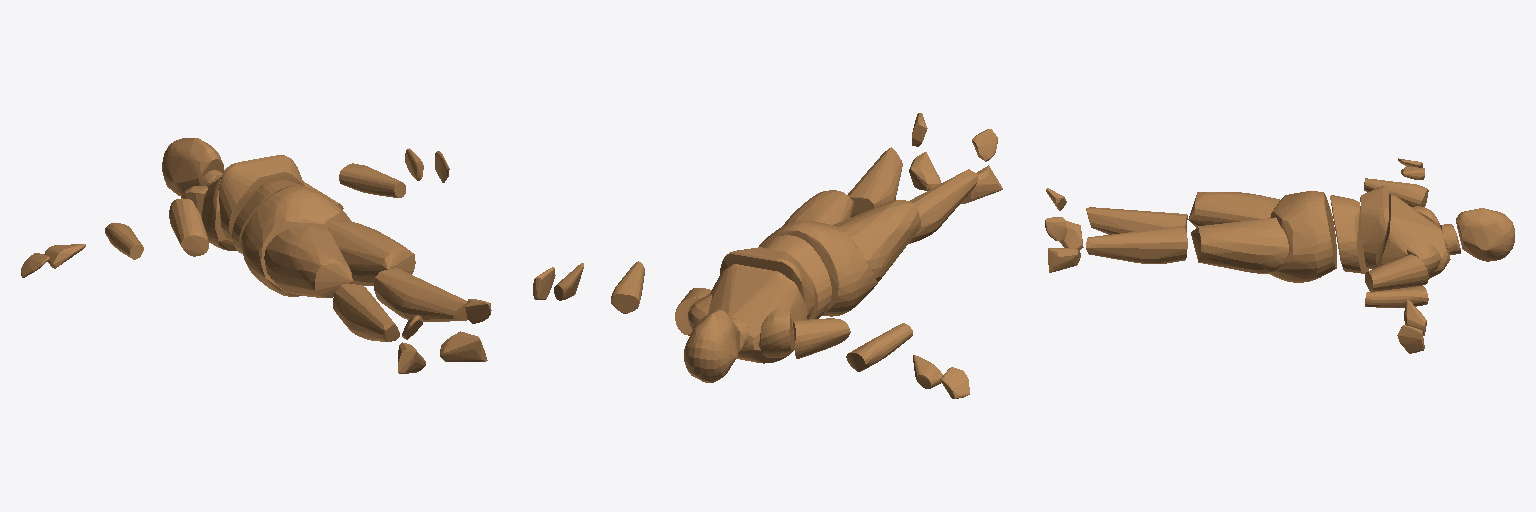
--- Render facts (derived) ---
The picture shows the robot from 3 angles, left to right: view 1: azimuth 30°, elevation 25°; view 2: azimuth 150°, elevation 25°; view 3: azimuth 270°, elevation 25°; orthographic projection.
Robot: human — 94 links, 93 joints (69 revolute, 24 fixed); root link base; default pose: every joint at zero.
Links seen in each view (by area): view 1: right_hip_limb, pelvis_limb, left_hip_limb, left_knee_limb, spine_3_limb, right_knee_limb, head_limb, right_shoulder_limb, left_elbow_limb, spine_4_limb, left_ankle_limb, spine_2_limb (+3 smaller); view 2: spine_4_limb, pelvis_limb, right_hip_limb, head_limb, right_knee_limb, left_knee_limb, spine_3_limb, spine_2_limb, right_shoulder_limb, left_hip_limb, right_elbow_limb, right_clavicle_limb (+8 smaller); view 3: pelvis_limb, left_hip_limb, left_knee_limb, spine_4_limb, head_limb, right_hip_limb, spine_2_limb, right_knee_limb, spine_3_limb, left_shoulder_limb, left_elbow_limb, right_elbow_limb (+3 smaller).
Boxes of the visible links, x1=… form: right_hip_limb: x1=264, y1=226, x2=352, y2=297; pelvis_limb: x1=241, y1=186, x2=350, y2=296; left_hip_limb: x1=327, y1=220, x2=415, y2=285; left_knee_limb: x1=374, y1=268, x2=467, y2=321; spine_3_limb: x1=218, y1=155, x2=304, y2=241; right_knee_limb: x1=333, y1=283, x2=399, y2=341; head_limb: x1=162, y1=138, x2=223, y2=195; right_shoulder_limb: x1=169, y1=198, x2=208, y2=256; left_elbow_limb: x1=339, y1=163, x2=405, y2=197; spine_4_limb: x1=202, y1=177, x2=236, y2=250; left_ankle_limb: x1=440, y1=331, x2=487, y2=361; spine_2_limb: x1=232, y1=179, x2=302, y2=253; spine_4_limb: x1=708, y1=264, x2=807, y2=363; pelvis_limb: x1=758, y1=221, x2=877, y2=316; right_hip_limb: x1=833, y1=200, x2=920, y2=281; head_limb: x1=684, y1=309, x2=737, y2=382; right_knee_limb: x1=909, y1=169, x2=977, y2=243; left_knee_limb: x1=847, y1=147, x2=902, y2=216; spine_3_limb: x1=720, y1=247, x2=814, y2=318; spine_2_limb: x1=760, y1=235, x2=831, y2=319; right_shoulder_limb: x1=793, y1=318, x2=850, y2=358; left_hip_limb: x1=782, y1=190, x2=853, y2=226; right_elbow_limb: x1=846, y1=323, x2=912, y2=371; right_clavicle_limb: x1=759, y1=307, x2=794, y2=357; pelvis_limb: x1=1270, y1=191, x2=1336, y2=282; left_hip_limb: x1=1191, y1=217, x2=1288, y2=273; left_knee_limb: x1=1086, y1=226, x2=1187, y2=263; spine_4_limb: x1=1380, y1=195, x2=1450, y2=278; head_limb: x1=1456, y1=208, x2=1514, y2=261; right_hip_limb: x1=1188, y1=192, x2=1279, y2=227; spine_2_limb: x1=1330, y1=195, x2=1368, y2=273; right_knee_limb: x1=1086, y1=207, x2=1187, y2=234; spine_3_limb: x1=1360, y1=186, x2=1388, y2=268; left_shoulder_limb: x1=1365, y1=254, x2=1428, y2=291; left_elbow_limb: x1=1365, y1=286, x2=1428, y2=307; right_elbow_limb: x1=1364, y1=178, x2=1428, y2=206.
Size in the robot's own frame: 1.68 by 1.84 by 0.3466 metres.
Meshes: 24 distinct files referenced, 24 mesh visuals loaded (24 OBJ).

URDF robot description (human):
<?xml version="1.0" ?>
<robot name="human">
	<link name="base">
		<inertial>
			<origin rpy="0.00000 0.0000 0.00000" xyz="0.00000 0.00000 0.00000"/>
			<mass value="0.00010"/>
			<inertia ixx="0.00000" ixy="0" ixz="0" iyy="0.00000" iyz="0" izz="0.00000"/>
		</inertial>
	</link>
	<link name="pelvis_limb">
		<inertial>
			<origin rpy="0.00000 0.0000 0.00000" xyz="0.00000 0.00000 0.00000"/>
			<mass value="2.00000"/>
			<inertia ixx="0.00000" ixy="0" ixz="0" iyy="0.00000" iyz="0" izz="0.00000"/>
		</inertial>
		<visual>
			<origin rpy="0.00000 0.0000 0.00000" xyz="0.00000 0.00000 0.00000"/>
			<geometry>
				<mesh filename="./meshes/Pelvis.obj" scale="1.00000 1.00000 1.00000"/>
			</geometry>
			<material name="mat_0_0">
				<color rgba="0.71879 0.53909 0.35939 1.00000" />
			</material>
		</visual>
		<collision>
			<origin rpy="0.00000 0.0000 0.00000" xyz="0.00000 0.00000 0.00000"/>
			<geometry>
				<mesh filename="./meshes/Pelvis.obj" scale="1.00000 1.00000 1.00000"/>
			</geometry>
		</collision>
	</link>
	<link name="left_hip_rx">
		<inertial>
			<origin rpy="0.00000 0.0000 0.00000" xyz="0.00000 0.00000 0.00000"/>
			<mass value="0.00000"/>
			<inertia ixx="0.00000" ixy="0" ixz="0" iyy="0.00000" iyz="0" izz="0.00000"/>
		</inertial>
		<visual>
			<origin rpy="0.00000 0.0000 0.00000" xyz="0.00000 0.00000 0.00000"/>
			<geometry>
				<sphere radius="0.00000"/>
			</geometry>
			<material name="mat_1_0">
				<color rgba="0.71879 0.53909 0.35939 1.00000" />
			</material>
		</visual>
		<collision>
			<origin rpy="0.00000 0.0000 0.00000" xyz="0.00000 0.00000 0.00000"/>
			<geometry>
				<sphere radius="0.00000"/>
			</geometry>
		</collision>
	</link>
	<link name="left_hip_ry">
		<inertial>
			<origin rpy="0.00000 0.0000 0.00000" xyz="0.00000 0.00000 0.00000"/>
			<mass value="0.00000"/>
			<inertia ixx="0.00000" ixy="0" ixz="0" iyy="0.00000" iyz="0" izz="0.00000"/>
		</inertial>
		<visual>
			<origin rpy="0.00000 0.0000 0.00000" xyz="0.00000 0.00000 0.00000"/>
			<geometry>
				<sphere radius="0.00000"/>
			</geometry>
			<material name="mat_2_0">
				<color rgba="0.71879 0.53909 0.35939 1.00000" />
			</material>
		</visual>
		<collision>
			<origin rpy="0.00000 0.0000 0.00000" xyz="0.00000 0.00000 0.00000"/>
			<geometry>
				<sphere radius="0.00000"/>
			</geometry>
		</collision>
	</link>
	<link name="left_hip_rz">
		<inertial>
			<origin rpy="0.00000 0.0000 0.00000" xyz="0.00000 0.00000 0.00000"/>
			<mass value="0.00000"/>
			<inertia ixx="0.00000" ixy="0" ixz="0" iyy="0.00000" iyz="0" izz="0.00000"/>
		</inertial>
		<visual>
			<origin rpy="0.00000 0.0000 0.00000" xyz="0.00000 0.00000 0.00000"/>
			<geometry>
				<sphere radius="0.00000"/>
			</geometry>
			<material name="mat_3_0">
				<color rgba="0.71879 0.53909 0.35939 1.00000" />
			</material>
		</visual>
		<collision>
			<origin rpy="0.00000 0.0000 0.00000" xyz="0.00000 0.00000 0.00000"/>
			<geometry>
				<sphere radius="0.00000"/>
			</geometry>
		</collision>
	</link>
	<link name="left_hip_limb">
		<inertial>
			<origin rpy="0.00000 0.0000 0.00000" xyz="0.00000 0.00000 0.00000"/>
			<mass value="2.00000"/>
			<inertia ixx="0.00000" ixy="0" ixz="0" iyy="0.00000" iyz="0" izz="0.00000"/>
		</inertial>
		<visual>
			<origin rpy="0.00000 0.0000 0.00000" xyz="0.00000 0.00000 0.00000"/>
			<geometry>
				<mesh filename="./meshes/L_Hip.obj" scale="1.00000 1.00000 1.00000"/>
			</geometry>
			<material name="mat_4_0">
				<color rgba="0.71879 0.53909 0.35939 1.00000" />
			</material>
		</visual>
		<collision>
			<origin rpy="0.00000 0.0000 0.00000" xyz="0.00000 0.00000 0.00000"/>
			<geometry>
				<mesh filename="./meshes/L_Hip.obj" scale="1.00000 1.00000 1.00000"/>
			</geometry>
		</collision>
	</link>
	<link name="left_knee_rx">
		<inertial>
			<origin rpy="0.00000 0.0000 0.00000" xyz="0.00000 0.00000 0.00000"/>
			<mass value="0.00000"/>
			<inertia ixx="0.00000" ixy="0" ixz="0" iyy="0.00000" iyz="0" izz="0.00000"/>
		</inertial>
		<visual>
			<origin rpy="0.00000 0.0000 0.00000" xyz="0.00000 0.00000 0.00000"/>
			<geometry>
				<sphere radius="0.00000"/>
			</geometry>
			<material name="mat_5_0">
				<color rgba="0.71879 0.53909 0.35939 1.00000" />
			</material>
		</visual>
		<collision>
			<origin rpy="0.00000 0.0000 0.00000" xyz="0.00000 0.00000 0.00000"/>
			<geometry>
				<sphere radius="0.00000"/>
			</geometry>
		</collision>
	</link>
	<link name="left_knee_ry">
		<inertial>
			<origin rpy="0.00000 0.0000 0.00000" xyz="0.00000 0.00000 0.00000"/>
			<mass value="0.00000"/>
			<inertia ixx="0.00000" ixy="0" ixz="0" iyy="0.00000" iyz="0" izz="0.00000"/>
		</inertial>
		<visual>
			<origin rpy="0.00000 0.0000 0.00000" xyz="0.00000 0.00000 0.00000"/>
			<geometry>
				<sphere radius="0.00000"/>
			</geometry>
			<material name="mat_6_0">
				<color rgba="0.71879 0.53909 0.35939 1.00000" />
			</material>
		</visual>
		<collision>
			<origin rpy="0.00000 0.0000 0.00000" xyz="0.00000 0.00000 0.00000"/>
			<geometry>
				<sphere radius="0.00000"/>
			</geometry>
		</collision>
	</link>
	<link name="left_knee_rz">
		<inertial>
			<origin rpy="0.00000 0.0000 0.00000" xyz="0.00000 0.00000 0.00000"/>
			<mass value="0.00000"/>
			<inertia ixx="0.00000" ixy="0" ixz="0" iyy="0.00000" iyz="0" izz="0.00000"/>
		</inertial>
		<visual>
			<origin rpy="0.00000 0.0000 0.00000" xyz="0.00000 0.00000 0.00000"/>
			<geometry>
				<sphere radius="0.00000"/>
			</geometry>
			<material name="mat_7_0">
				<color rgba="0.71879 0.53909 0.35939 1.00000" />
			</material>
		</visual>
		<collision>
			<origin rpy="0.00000 0.0000 0.00000" xyz="0.00000 0.00000 0.00000"/>
			<geometry>
				<sphere radius="0.00000"/>
			</geometry>
		</collision>
	</link>
	<link name="left_knee_limb">
		<inertial>
			<origin rpy="0.00000 0.0000 0.00000" xyz="0.00000 0.00000 0.00000"/>
			<mass value="2.00000"/>
			<inertia ixx="0.03487" ixy="0" ixz="0" iyy="0.00791" iyz="0" izz="0.03324"/>
		</inertial>
		<visual>
			<origin rpy="0.00000 0.0000 0.00000" xyz="0.00000 0.00000 0.00000"/>
			<geometry>
				<mesh filename="./meshes/L_Knee.obj" scale="1.00000 1.00000 1.00000"/>
			</geometry>
			<material name="mat_8_0">
				<color rgba="0.71879 0.53909 0.35939 1.00000" />
			</material>
		</visual>
		<collision>
			<origin rpy="0.00000 0.0000 0.00000" xyz="0.00000 0.00000 0.00000"/>
			<geometry>
				<mesh filename="./meshes/L_Knee.obj" scale="1.00000 1.00000 1.00000"/>
			</geometry>
		</collision>
	</link>
	<link name="left_ankle_rx">
		<inertial>
			<origin rpy="0.00000 0.0000 0.00000" xyz="0.00000 0.00000 0.00000"/>
			<mass value="0.00000"/>
			<inertia ixx="0.00000" ixy="0" ixz="0" iyy="0.00000" iyz="0" izz="0.00000"/>
		</inertial>
		<visual>
			<origin rpy="0.00000 0.0000 0.00000" xyz="0.00000 0.00000 0.00000"/>
			<geometry>
				<sphere radius="0.00000"/>
			</geometry>
			<material name="mat_9_0">
				<color rgba="0.71879 0.53909 0.35939 1.00000" />
			</material>
		</visual>
		<collision>
			<origin rpy="0.00000 0.0000 0.00000" xyz="0.00000 0.00000 0.00000"/>
			<geometry>
				<sphere radius="0.00000"/>
			</geometry>
		</collision>
	</link>
	<link name="left_ankle_ry">
		<inertial>
			<origin rpy="0.00000 0.0000 0.00000" xyz="0.00000 0.00000 0.00000"/>
			<mass value="0.00000"/>
			<inertia ixx="0.00000" ixy="0" ixz="0" iyy="0.00000" iyz="0" izz="0.00000"/>
		</inertial>
		<visual>
			<origin rpy="0.00000 0.0000 0.00000" xyz="0.00000 0.00000 0.00000"/>
			<geometry>
				<sphere radius="0.00000"/>
			</geometry>
			<material name="mat_10_0">
				<color rgba="0.71879 0.53909 0.35939 1.00000" />
			</material>
		</visual>
		<collision>
			<origin rpy="0.00000 0.0000 0.00000" xyz="0.00000 0.00000 0.00000"/>
			<geometry>
				<sphere radius="0.00000"/>
			</geometry>
		</collision>
	</link>
	<link name="left_ankle_rz">
		<inertial>
			<origin rpy="0.00000 0.0000 0.00000" xyz="0.00000 0.00000 0.00000"/>
			<mass value="0.00000"/>
			<inertia ixx="0.00000" ixy="0" ixz="0" iyy="0.00000" iyz="0" izz="0.00000"/>
		</inertial>
		<visual>
			<origin rpy="0.00000 0.0000 0.00000" xyz="0.00000 0.00000 0.00000"/>
			<geometry>
				<sphere radius="0.00000"/>
			</geometry>
			<material name="mat_11_0">
				<color rgba="0.71879 0.53909 0.35939 1.00000" />
			</material>
		</visual>
		<collision>
			<origin rpy="0.00000 0.0000 0.00000" xyz="0.00000 0.00000 0.00000"/>
			<geometry>
				<sphere radius="0.00000"/>
			</geometry>
		</collision>
	</link>
	<link name="left_ankle_limb">
		<inertial>
			<origin rpy="0.00000 0.0000 0.00000" xyz="0.00000 0.00000 0.00000"/>
			<mass value="2.00000"/>
			<inertia ixx="0.00736" ixy="0" ixz="0" iyy="0.00763" iyz="0" izz="0.00377"/>
		</inertial>
		<visual>
			<origin rpy="0.00000 0.0000 0.00000" xyz="0.00000 0.00000 0.00000"/>
			<geometry>
				<mesh filename="./meshes/L_Ankle.obj" scale="1.00000 1.00000 1.00000"/>
			</geometry>
			<material name="mat_12_0">
				<color rgba="0.71879 0.53909 0.35939 1.00000" />
			</material>
		</visual>
		<collision>
			<origin rpy="0.00000 0.0000 0.00000" xyz="0.00000 0.00000 0.00000"/>
			<geometry>
				<mesh filename="./meshes/L_Ankle.obj" scale="1.00000 1.00000 1.00000"/>
			</geometry>
		</collision>
	</link>
	<link name="left_foot_rx">
		<inertial>
			<origin rpy="0.00000 0.0000 0.00000" xyz="0.00000 0.00000 0.00000"/>
			<mass value="0.00000"/>
			<inertia ixx="0.00000" ixy="0" ixz="0" iyy="0.00000" iyz="0" izz="0.00000"/>
		</inertial>
		<visual>
			<origin rpy="0.00000 0.0000 0.00000" xyz="0.00000 0.00000 0.00000"/>
			<geometry>
				<sphere radius="0.00000"/>
			</geometry>
			<material name="mat_13_0">
				<color rgba="0.71879 0.53909 0.35939 1.00000" />
			</material>
		</visual>
		<collision>
			<origin rpy="0.00000 0.0000 0.00000" xyz="0.00000 0.00000 0.00000"/>
			<geometry>
				<sphere radius="0.00000"/>
			</geometry>
		</collision>
	</link>
	<link name="left_foot_ry">
		<inertial>
			<origin rpy="0.00000 0.0000 0.00000" xyz="0.00000 0.00000 0.00000"/>
			<mass value="0.00000"/>
			<inertia ixx="0.00000" ixy="0" ixz="0" iyy="0.00000" iyz="0" izz="0.00000"/>
		</inertial>
		<visual>
			<origin rpy="0.00000 0.0000 0.00000" xyz="0.00000 0.00000 0.00000"/>
			<geometry>
				<sphere radius="0.00000"/>
			</geometry>
			<material name="mat_14_0">
				<color rgba="0.71879 0.53909 0.35939 1.00000" />
			</material>
		</visual>
		<collision>
			<origin rpy="0.00000 0.0000 0.00000" xyz="0.00000 0.00000 0.00000"/>
			<geometry>
				<sphere radius="0.00000"/>
			</geometry>
		</collision>
	</link>
	<link name="left_foot_rz">
		<inertial>
			<origin rpy="0.00000 0.0000 0.00000" xyz="0.00000 0.00000 0.00000"/>
			<mass value="0.00000"/>
			<inertia ixx="0.00000" ixy="0" ixz="0" iyy="0.00000" iyz="0" izz="0.00000"/>
		</inertial>
		<visual>
			<origin rpy="0.00000 0.0000 0.00000" xyz="0.00000 0.00000 0.00000"/>
			<geometry>
				<sphere radius="0.00000"/>
			</geometry>
			<material name="mat_15_0">
				<color rgba="0.71879 0.53909 0.35939 1.00000" />
			</material>
		</visual>
		<collision>
			<origin rpy="0.00000 0.0000 0.00000" xyz="0.00000 0.00000 0.00000"/>
			<geometry>
				<sphere radius="0.00000"/>
			</geometry>
		</collision>
	</link>
	<link name="left_foot_limb">
		<inertial>
			<origin rpy="0.00000 0.0000 0.00000" xyz="0.00000 0.00000 0.00000"/>
			<mass value="2.00000"/>
			<inertia ixx="0.00118" ixy="0" ixz="0" iyy="0.00193" iyz="0" izz="0.00113"/>
		</inertial>
		<visual>
			<origin rpy="0.00000 0.0000 0.00000" xyz="0.00000 0.00000 0.00000"/>
			<geometry>
				<mesh filename="./meshes/L_Foot.obj" scale="1.00000 1.00000 1.00000"/>
			</geometry>
			<material name="mat_16_0">
				<color rgba="0.71879 0.53909 0.35939 1.00000" />
			</material>
		</visual>
		<collision>
			<origin rpy="0.00000 0.0000 0.00000" xyz="0.00000 0.00000 0.00000"/>
			<geometry>
				<mesh filename="./meshes/L_Foot.obj" scale="1.00000 1.00000 1.00000"/>
			</geometry>
		</collision>
	</link>
	<link name="right_hip_rx">
		<inertial>
			<origin rpy="0.00000 0.0000 0.00000" xyz="0.00000 0.00000 0.00000"/>
			<mass value="0.00000"/>
			<inertia ixx="0.00000" ixy="0" ixz="0" iyy="0.00000" iyz="0" izz="0.00000"/>
		</inertial>
		<visual>
			<origin rpy="0.00000 0.0000 0.00000" xyz="0.00000 0.00000 0.00000"/>
			<geometry>
				<sphere radius="0.00000"/>
			</geometry>
			<material name="mat_19_0">
				<color rgba="0.71879 0.53909 0.35939 1.00000" />
			</material>
		</visual>
		<collision>
			<origin rpy="0.00000 0.0000 0.00000" xyz="0.00000 0.00000 0.00000"/>
			<geometry>
				<sphere radius="0.00000"/>
			</geometry>
		</collision>
	</link>
	<link name="right_hip_ry">
		<inertial>
			<origin rpy="0.00000 0.0000 0.00000" xyz="0.00000 0.00000 0.00000"/>
			<mass value="0.00000"/>
			<inertia ixx="0.00000" ixy="0" ixz="0" iyy="0.00000" iyz="0" izz="0.00000"/>
		</inertial>
		<visual>
			<origin rpy="0.00000 0.0000 0.00000" xyz="0.00000 0.00000 0.00000"/>
			<geometry>
				<sphere radius="0.00000"/>
			</geometry>
			<material name="mat_20_0">
				<color rgba="0.71879 0.53909 0.35939 1.00000" />
			</material>
		</visual>
		<collision>
			<origin rpy="0.00000 0.0000 0.00000" xyz="0.00000 0.00000 0.00000"/>
			<geometry>
				<sphere radius="0.00000"/>
			</geometry>
		</collision>
	</link>
	<link name="right_hip_rz">
		<inertial>
			<origin rpy="0.00000 0.0000 0.00000" xyz="0.00000 0.00000 0.00000"/>
			<mass value="0.00000"/>
			<inertia ixx="0.00000" ixy="0" ixz="0" iyy="0.00000" iyz="0" izz="0.00000"/>
		</inertial>
		<visual>
			<origin rpy="0.00000 0.0000 0.00000" xyz="0.00000 0.00000 0.00000"/>
			<geometry>
				<sphere radius="0.00000"/>
			</geometry>
			<material name="mat_21_0">
				<color rgba="0.71879 0.53909 0.35939 1.00000" />
			</material>
		</visual>
		<collision>
			<origin rpy="0.00000 0.0000 0.00000" xyz="0.00000 0.00000 0.00000"/>
			<geometry>
				<sphere radius="0.00000"/>
			</geometry>
		</collision>
	</link>
	<link name="right_hip_limb">
		<inertial>
			<origin rpy="0.00000 0.0000 0.00000" xyz="0.00000 0.00000 0.00000"/>
			<mass value="2.00000"/>
			<inertia ixx="0.00000" ixy="0" ixz="0" iyy="0.00000" iyz="0" izz="0.00000"/>
		</inertial>
		<visual>
			<origin rpy="0.00000 0.0000 0.00000" xyz="0.00000 0.00000 0.00000"/>
			<geometry>
				<mesh filename="./meshes/R_Hip.obj" scale="1.00000 1.00000 1.00000"/>
			</geometry>
			<material name="mat_22_0">
				<color rgba="0.71879 0.53909 0.35939 1.00000" />
			</material>
		</visual>
		<collision>
			<origin rpy="0.00000 0.0000 0.00000" xyz="0.00000 0.00000 0.00000"/>
			<geometry>
				<mesh filename="./meshes/R_Hip.obj" scale="1.00000 1.00000 1.00000"/>
			</geometry>
		</collision>
	</link>
	<link name="right_knee_rx">
		<inertial>
			<origin rpy="0.00000 0.0000 0.00000" xyz="0.00000 0.00000 0.00000"/>
			<mass value="0.00000"/>
			<inertia ixx="0.00000" ixy="0" ixz="0" iyy="0.00000" iyz="0" izz="0.00000"/>
		</inertial>
		<visual>
			<origin rpy="0.00000 0.0000 0.00000" xyz="0.00000 0.00000 0.00000"/>
			<geometry>
				<sphere radius="0.00000"/>
			</geometry>
			<material name="mat_23_0">
				<color rgba="0.71879 0.53909 0.35939 1.00000" />
			</material>
		</visual>
		<collision>
			<origin rpy="0.00000 0.0000 0.00000" xyz="0.00000 0.00000 0.00000"/>
			<geometry>
				<sphere radius="0.00000"/>
			</geometry>
		</collision>
	</link>
	<link name="right_knee_ry">
		<inertial>
			<origin rpy="0.00000 0.0000 0.00000" xyz="0.00000 0.00000 0.00000"/>
			<mass value="0.00000"/>
			<inertia ixx="0.00000" ixy="0" ixz="0" iyy="0.00000" iyz="0" izz="0.00000"/>
		</inertial>
		<visual>
			<origin rpy="0.00000 0.0000 0.00000" xyz="0.00000 0.00000 0.00000"/>
			<geometry>
				<sphere radius="0.00000"/>
			</geometry>
			<material name="mat_24_0">
				<color rgba="0.71879 0.53909 0.35939 1.00000" />
			</material>
		</visual>
		<collision>
			<origin rpy="0.00000 0.0000 0.00000" xyz="0.00000 0.00000 0.00000"/>
			<geometry>
				<sphere radius="0.00000"/>
			</geometry>
		</collision>
	</link>
	<link name="right_knee_rz">
		<inertial>
			<origin rpy="0.00000 0.0000 0.00000" xyz="0.00000 0.00000 0.00000"/>
			<mass value="0.00000"/>
			<inertia ixx="0.00000" ixy="0" ixz="0" iyy="0.00000" iyz="0" izz="0.00000"/>
		</inertial>
		<visual>
			<origin rpy="0.00000 0.0000 0.00000" xyz="0.00000 0.00000 0.00000"/>
			<geometry>
				<sphere radius="0.00000"/>
			</geometry>
			<material name="mat_25_0">
				<color rgba="0.71879 0.53909 0.35939 1.00000" />
			</material>
		</visual>
		<collision>
			<origin rpy="0.00000 0.0000 0.00000" xyz="0.00000 0.00000 0.00000"/>
			<geometry>
				<sphere radius="0.00000"/>
			</geometry>
		</collision>
	</link>
	<link name="right_knee_limb">
		<inertial>
			<origin rpy="0.00000 0.0000 0.00000" xyz="0.00000 0.00000 0.00000"/>
			<mass value="2.00000"/>
			<inertia ixx="0.03468" ixy="0" ixz="0" iyy="0.00776" iyz="0" izz="0.03330"/>
		</inertial>
		<visual>
			<origin rpy="0.00000 0.0000 0.00000" xyz="0.00000 0.00000 0.00000"/>
			<geometry>
				<mesh filename="./meshes/R_Knee.obj" scale="1.00000 1.00000 1.00000"/>
			</geometry>
			<material name="mat_26_0">
				<color rgba="0.71879 0.53909 0.35939 1.00000" />
			</material>
		</visual>
		<collision>
			<origin rpy="0.00000 0.0000 0.00000" xyz="0.00000 0.00000 0.00000"/>
			<geometry>
				<mesh filename="./meshes/R_Knee.obj" scale="1.00000 1.00000 1.00000"/>
			</geometry>
		</collision>
	</link>
	<link name="right_ankle_rx">
		<inertial>
			<origin rpy="0.00000 0.0000 0.00000" xyz="0.00000 0.00000 0.00000"/>
			<mass value="0.00000"/>
			<inertia ixx="0.00000" ixy="0" ixz="0" iyy="0.00000" iyz="0" izz="0.00000"/>
		</inertial>
		<visual>
			<origin rpy="0.00000 0.0000 0.00000" xyz="0.00000 0.00000 0.00000"/>
			<geometry>
				<sphere radius="0.00000"/>
			</geometry>
			<material name="mat_27_0">
				<color rgba="0.71879 0.53909 0.35939 1.00000" />
			</material>
		</visual>
		<collision>
			<origin rpy="0.00000 0.0000 0.00000" xyz="0.00000 0.00000 0.00000"/>
			<geometry>
				<sphere radius="0.00000"/>
			</geometry>
		</collision>
	</link>
	<link name="right_ankle_ry">
		<inertial>
			<origin rpy="0.00000 0.0000 0.00000" xyz="0.00000 0.00000 0.00000"/>
			<mass value="0.00000"/>
			<inertia ixx="0.00000" ixy="0" ixz="0" iyy="0.00000" iyz="0" izz="0.00000"/>
		</inertial>
		<visual>
			<origin rpy="0.00000 0.0000 0.00000" xyz="0.00000 0.00000 0.00000"/>
			<geometry>
				<sphere radius="0.00000"/>
			</geometry>
			<material name="mat_28_0">
				<color rgba="0.71879 0.53909 0.35939 1.00000" />
			</material>
		</visual>
		<collision>
			<origin rpy="0.00000 0.0000 0.00000" xyz="0.00000 0.00000 0.00000"/>
			<geometry>
				<sphere radius="0.00000"/>
			</geometry>
		</collision>
	</link>
	<link name="right_ankle_rz">
		<inertial>
			<origin rpy="0.00000 0.0000 0.00000" xyz="0.00000 0.00000 0.00000"/>
			<mass value="0.00000"/>
			<inertia ixx="0.00000" ixy="0" ixz="0" iyy="0.00000" iyz="0" izz="0.00000"/>
		</inertial>
		<visual>
			<origin rpy="0.00000 0.0000 0.00000" xyz="0.00000 0.00000 0.00000"/>
			<geometry>
				<sphere radius="0.00000"/>
			</geometry>
			<material name="mat_29_0">
				<color rgba="0.71879 0.53909 0.35939 1.00000" />
			</material>
		</visual>
		<collision>
			<origin rpy="0.00000 0.0000 0.00000" xyz="0.00000 0.00000 0.00000"/>
			<geometry>
				<sphere radius="0.00000"/>
			</geometry>
		</collision>
	</link>
	<link name="right_ankle_limb">
		<inertial>
			<origin rpy="0.00000 0.0000 0.00000" xyz="0.00000 0.00000 0.00000"/>
			<mass value="2.00000"/>
			<inertia ixx="0.00777" ixy="0" ixz="0" iyy="0.00782" iyz="0" izz="0.00385"/>
		</inertial>
		<visual>
			<origin rpy="0.00000 0.0000 0.00000" xyz="0.00000 0.00000 0.00000"/>
			<geometry>
				<mesh filename="./meshes/R_Ankle.obj" scale="1.00000 1.00000 1.00000"/>
			</geometry>
			<material name="mat_30_0">
				<color rgba="0.71879 0.53909 0.35939 1.00000" />
			</material>
		</visual>
		<collision>
			<origin rpy="0.00000 0.0000 0.00000" xyz="0.00000 0.00000 0.00000"/>
			<geometry>
				<mesh filename="./meshes/R_Ankle.obj" scale="1.00000 1.00000 1.00000"/>
			</geometry>
		</collision>
	</link>
	<link name="right_foot_rx">
		<inertial>
			<origin rpy="0.00000 0.0000 0.00000" xyz="0.00000 0.00000 0.00000"/>
			<mass value="0.00000"/>
			<inertia ixx="0.00000" ixy="0" ixz="0" iyy="0.00000" iyz="0" izz="0.00000"/>
		</inertial>
		<visual>
			<origin rpy="0.00000 0.0000 0.00000" xyz="0.00000 0.00000 0.00000"/>
			<geometry>
				<sphere radius="0.00000"/>
			</geometry>
			<material name="mat_31_0">
				<color rgba="0.71879 0.53909 0.35939 1.00000" />
			</material>
		</visual>
		<collision>
			<origin rpy="0.00000 0.0000 0.00000" xyz="0.00000 0.00000 0.00000"/>
			<geometry>
				<sphere radius="0.00000"/>
			</geometry>
		</collision>
	</link>
	<link name="right_foot_ry">
		<inertial>
			<origin rpy="0.00000 0.0000 0.00000" xyz="0.00000 0.00000 0.00000"/>
			<mass value="0.00000"/>
			<inertia ixx="0.00000" ixy="0" ixz="0" iyy="0.00000" iyz="0" izz="0.00000"/>
		</inertial>
		<visual>
			<origin rpy="0.00000 0.0000 0.00000" xyz="0.00000 0.00000 0.00000"/>
			<geometry>
				<sphere radius="0.00000"/>
			</geometry>
			<material name="mat_32_0">
				<color rgba="0.71879 0.53909 0.35939 1.00000" />
			</material>
		</visual>
		<collision>
			<origin rpy="0.00000 0.0000 0.00000" xyz="0.00000 0.00000 0.00000"/>
			<geometry>
				<sphere radius="0.00000"/>
			</geometry>
		</collision>
	</link>
	<link name="right_foot_rz">
		<inertial>
			<origin rpy="0.00000 0.0000 0.00000" xyz="0.00000 0.00000 0.00000"/>
			<mass value="0.00000"/>
			<inertia ixx="0.00000" ixy="0" ixz="0" iyy="0.00000" iyz="0" izz="0.00000"/>
		</inertial>
		<visual>
			<origin rpy="0.00000 0.0000 0.00000" xyz="0.00000 0.00000 0.00000"/>
			<geometry>
				<sphere radius="0.00000"/>
			</geometry>
			<material name="mat_33_0">
				<color rgba="0.71879 0.53909 0.35939 1.00000" />
			</material>
		</visual>
		<collision>
			<origin rpy="0.00000 0.0000 0.00000" xyz="0.00000 0.00000 0.00000"/>
			<geometry>
				<sphere radius="0.00000"/>
			</geometry>
		</collision>
	</link>
	<link name="right_foot_limb">
		<inertial>
			<origin rpy="0.00000 0.0000 0.00000" xyz="0.00000 0.00000 0.00000"/>
			<mass value="2.00000"/>
			<inertia ixx="0.00122" ixy="0" ixz="0" iyy="0.00197" iyz="0" izz="0.00116"/>
		</inertial>
		<visual>
			<origin rpy="0.00000 0.0000 0.00000" xyz="0.00000 0.00000 0.00000"/>
			<geometry>
				<mesh filename="./meshes/R_Foot.obj" scale="1.00000 1.00000 1.00000"/>
			</geometry>
			<material name="mat_34_0">
				<color rgba="0.71879 0.53909 0.35939 1.00000" />
			</material>
		</visual>
		<collision>
			<origin rpy="0.00000 0.0000 0.00000" xyz="0.00000 0.00000 0.00000"/>
			<geometry>
				<mesh filename="./meshes/R_Foot.obj" scale="1.00000 1.00000 1.00000"/>
			</geometry>
		</collision>
	</link>
	<link name="spine_2_rx">
		<inertial>
			<origin rpy="0.00000 0.0000 0.00000" xyz="0.00000 0.00000 0.00000"/>
			<mass value="0.00000"/>
			<inertia ixx="0.00000" ixy="0" ixz="0" iyy="0.00000" iyz="0" izz="0.00000"/>
		</inertial>
		<visual>
			<origin rpy="0.00000 0.0000 0.00000" xyz="0.00000 0.00000 0.00000"/>
			<geometry>
				<sphere radius="0.00000"/>
			</geometry>
			<material name="mat_37_0">
				<color rgba="0.71879 0.53909 0.35939 1.00000" />
			</material>
		</visual>
		<collision>
			<origin rpy="0.00000 0.0000 0.00000" xyz="0.00000 0.00000 0.00000"/>
			<geometry>
				<sphere radius="0.00000"/>
			</geometry>
		</collision>
	</link>
	<link name="spine_2_ry">
		<inertial>
			<origin rpy="0.00000 0.0000 0.00000" xyz="0.00000 0.00000 0.00000"/>
			<mass value="0.00000"/>
			<inertia ixx="0.00000" ixy="0" ixz="0" iyy="0.00000" iyz="0" izz="0.00000"/>
		</inertial>
		<visual>
			<origin rpy="0.00000 0.0000 0.00000" xyz="0.00000 0.00000 0.00000"/>
			<geometry>
				<sphere radius="0.00000"/>
			</geometry>
			<material name="mat_38_0">
				<color rgba="0.71879 0.53909 0.35939 1.00000" />
			</material>
		</visual>
		<collision>
			<origin rpy="0.00000 0.0000 0.00000" xyz="0.00000 0.00000 0.00000"/>
			<geometry>
				<sphere radius="0.00000"/>
			</geometry>
		</collision>
	</link>
	<link name="spine_2_rz">
		<inertial>
			<origin rpy="0.00000 0.0000 0.00000" xyz="0.00000 0.00000 0.00000"/>
			<mass value="0.00000"/>
			<inertia ixx="0.00000" ixy="0" ixz="0" iyy="0.00000" iyz="0" izz="0.00000"/>
		</inertial>
		<visual>
			<origin rpy="0.00000 0.0000 0.00000" xyz="0.00000 0.00000 0.00000"/>
			<geometry>
				<sphere radius="0.00000"/>
			</geometry>
			<material name="mat_39_0">
				<color rgba="0.71879 0.53909 0.35939 1.00000" />
			</material>
		</visual>
		<collision>
			<origin rpy="0.00000 0.0000 0.00000" xyz="0.00000 0.00000 0.00000"/>
			<geometry>
				<sphere radius="0.00000"/>
			</geometry>
		</collision>
	</link>
	<link name="spine_2_limb">
		<inertial>
			<origin rpy="0.00000 0.0000 0.00000" xyz="0.00000 0.00000 0.00000"/>
			<mass value="2.00000"/>
			<inertia ixx="0.01821" ixy="0" ixz="0" iyy="0.03264" iyz="0" izz="0.02330"/>
		</inertial>
		<visual>
			<origin rpy="0.00000 0.0000 0.00000" xyz="0.00000 0.00000 0.00000"/>
			<geometry>
				<mesh filename="./meshes/Spine1.obj" scale="1.00000 1.00000 1.00000"/>
			</geometry>
			<material name="mat_40_0">
				<color rgba="0.71879 0.53909 0.35939 1.00000" />
			</material>
		</visual>
		<collision>
			<origin rpy="0.00000 0.0000 0.00000" xyz="0.00000 0.00000 0.00000"/>
			<geometry>
				<mesh filename="./meshes/Spine1.obj" scale="1.00000 1.00000 1.00000"/>
			</geometry>
		</collision>
	</link>
	<link name="spine_3_rx">
		<inertial>
			<origin rpy="0.00000 0.0000 0.00000" xyz="0.00000 0.00000 0.00000"/>
			<mass value="0.00000"/>
			<inertia ixx="0.00000" ixy="0" ixz="0" iyy="0.00000" iyz="0" izz="0.00000"/>
		</inertial>
		<visual>
			<origin rpy="0.00000 0.0000 0.00000" xyz="0.00000 0.00000 0.00000"/>
			<geometry>
				<sphere radius="0.00000"/>
			</geometry>
			<material name="mat_41_0">
				<color rgba="0.71879 0.53909 0.35939 1.00000" />
			</material>
		</visual>
		<collision>
			<origin rpy="0.00000 0.0000 0.00000" xyz="0.00000 0.00000 0.00000"/>
			<geometry>
				<sphere radius="0.00000"/>
			</geometry>
		</collision>
	</link>
	<link name="spine_3_ry">
		<inertial>
			<origin rpy="0.00000 0.0000 0.00000" xyz="0.00000 0.00000 0.00000"/>
			<mass value="0.00000"/>
			<inertia ixx="0.00000" ixy="0" ixz="0" iyy="0.00000" iyz="0" izz="0.00000"/>
		</inertial>
		<visual>
			<origin rpy="0.00000 0.0000 0.00000" xyz="0.00000 0.00000 0.00000"/>
			<geometry>
				<sphere radius="0.00000"/>
			</geometry>
			<material name="mat_42_0">
				<color rgba="0.71879 0.53909 0.35939 1.00000" />
			</material>
		</visual>
		<collision>
			<origin rpy="0.00000 0.0000 0.00000" xyz="0.00000 0.00000 0.00000"/>
			<geometry>
				<sphere radius="0.00000"/>
			</geometry>
		</collision>
	</link>
	<link name="spine_3_rz">
		<inertial>
			<origin rpy="0.00000 0.0000 0.00000" xyz="0.00000 0.00000 0.00000"/>
			<mass value="0.00000"/>
			<inertia ixx="0.00000" ixy="0" ixz="0" iyy="0.00000" iyz="0" izz="0.00000"/>
		</inertial>
		<visual>
			<origin rpy="0.00000 0.0000 0.00000" xyz="0.00000 0.00000 0.00000"/>
			<geometry>
				<sphere radius="0.00000"/>
			</geometry>
			<material name="mat_43_0">
				<color rgba="0.71879 0.53909 0.35939 1.00000" />
			</material>
		</visual>
		<collision>
			<origin rpy="0.00000 0.0000 0.00000" xyz="0.00000 0.00000 0.00000"/>
			<geometry>
				<sphere radius="0.00000"/>
			</geometry>
		</collision>
	</link>
	<link name="spine_3_limb">
		<inertial>
			<origin rpy="0.00000 0.0000 0.00000" xyz="0.00000 0.00000 0.00000"/>
			<mass value="2.00000"/>
			<inertia ixx="0.01582" ixy="0" ixz="0" iyy="0.03312" iyz="0" izz="0.02315"/>
		</inertial>
		<visual>
			<origin rpy="0.00000 0.0000 0.00000" xyz="0.00000 0.00000 0.00000"/>
			<geometry>
				<mesh filename="./meshes/Spine2.obj" scale="1.00000 1.00000 1.00000"/>
			</geometry>
			<material name="mat_44_0">
				<color rgba="0.71879 0.53909 0.35939 1.00000" />
			</material>
		</visual>
		<collision>
			<origin rpy="0.00000 0.0000 0.00000" xyz="0.00000 0.00000 0.00000"/>
			<geometry>
				<mesh filename="./meshes/Spine2.obj" scale="1.00000 1.00000 1.00000"/>
			</geometry>
		</collision>
	</link>
	<link name="spine_4_rx">
		<inertial>
			<origin rpy="0.00000 0.0000 0.00000" xyz="0.00000 0.00000 0.00000"/>
			<mass value="0.00000"/>
			<inertia ixx="0.00000" ixy="0" ixz="0" iyy="0.00000" iyz="0" izz="0.00000"/>
		</inertial>
		<visual>
			<origin rpy="0.00000 0.0000 0.00000" xyz="0.00000 0.00000 0.00000"/>
			<geometry>
				<sphere radius="0.00000"/>
			</geometry>
			<material name="mat_45_0">
				<color rgba="0.71879 0.53909 0.35939 1.00000" />
			</material>
		</visual>
		<collision>
			<origin rpy="0.00000 0.0000 0.00000" xyz="0.00000 0.00000 0.00000"/>
			<geometry>
				<sphere radius="0.00000"/>
			</geometry>
		</collision>
	</link>
	<link name="spine_4_ry">
		<inertial>
			<origin rpy="0.00000 0.0000 0.00000" xyz="0.00000 0.00000 0.00000"/>
			<mass value="0.00000"/>
			<inertia ixx="0.00000" ixy="0" ixz="0" iyy="0.00000" iyz="0" izz="0.00000"/>
		</inertial>
		<visual>
			<origin rpy="0.00000 0.0000 0.00000" xyz="0.00000 0.00000 0.00000"/>
			<geometry>
				<sphere radius="0.00000"/>
			</geometry>
			<material name="mat_46_0">
				<color rgba="0.71879 0.53909 0.35939 1.00000" />
			</material>
		</visual>
		<collision>
			<origin rpy="0.00000 0.0000 0.00000" xyz="0.00000 0.00000 0.00000"/>
			<geometry>
				<sphere radius="0.00000"/>
			</geometry>
		</collision>
	</link>
	<link name="spine_4_rz">
		<inertial>
			<origin rpy="0.00000 0.0000 0.00000" xyz="0.00000 0.00000 0.00000"/>
			<mass value="0.00000"/>
			<inertia ixx="0.00000" ixy="0" ixz="0" iyy="0.00000" iyz="0" izz="0.00000"/>
		</inertial>
		<visual>
			<origin rpy="0.00000 0.0000 0.00000" xyz="0.00000 0.00000 0.00000"/>
			<geometry>
				<sphere radius="0.00000"/>
			</geometry>
			<material name="mat_47_0">
				<color rgba="0.71879 0.53909 0.35939 1.00000" />
			</material>
		</visual>
		<collision>
			<origin rpy="0.00000 0.0000 0.00000" xyz="0.00000 0.00000 0.00000"/>
			<geometry>
				<sphere radius="0.00000"/>
			</geometry>
		</collision>
	</link>
	<link name="spine_4_limb">
		<inertial>
			<origin rpy="0.00000 0.0000 0.00000" xyz="0.00000 0.00000 0.00000"/>
			<mass value="2.00000"/>
			<inertia ixx="0.02460" ixy="0" ixz="0" iyy="0.04485" iyz="0" izz="0.04578"/>
		</inertial>
		<visual>
			<origin rpy="0.00000 0.0000 0.00000" xyz="0.00000 0.00000 0.00000"/>
			<geometry>
				<mesh filename="./meshes/Spine3.obj" scale="1.00000 1.00000 1.00000"/>
			</geometry>
			<material name="mat_48_0">
				<color rgba="0.71879 0.53909 0.35939 1.00000" />
			</material>
		</visual>
		<collision>
			<origin rpy="0.00000 0.0000 0.00000" xyz="0.00000 0.00000 0.00000"/>
			<geometry>
				<mesh filename="./meshes/Spine3.obj" scale="1.00000 1.00000 1.00000"/>
			</geometry>
		</collision>
	</link>
	<link name="neck_rx">
		<inertial>
			<origin rpy="0.00000 0.0000 0.00000" xyz="0.00000 0.00000 0.00000"/>
			<mass value="0.00000"/>
			<inertia ixx="0.00000" ixy="0" ixz="0" iyy="0.00000" iyz="0" izz="0.00000"/>
		</inertial>
		<visual>
			<origin rpy="0.00000 0.0000 0.00000" xyz="0.00000 0.00000 0.00000"/>
			<geometry>
				<sphere radius="0.00000"/>
			</geometry>
			<material name="mat_49_0">
				<color rgba="0.71879 0.53909 0.35939 1.00000" />
			</material>
		</visual>
		<collision>
			<origin rpy="0.00000 0.0000 0.00000" xyz="0.00000 0.00000 0.00000"/>
			<geometry>
				<sphere radius="0.00000"/>
			</geometry>
		</collision>
	</link>
	<link name="neck_ry">
		<inertial>
			<origin rpy="0.00000 0.0000 0.00000" xyz="0.00000 0.00000 0.00000"/>
			<mass value="0.00000"/>
			<inertia ixx="0.00000" ixy="0" ixz="0" iyy="0.00000" iyz="0" izz="0.00000"/>
		</inertial>
		<visual>
			<origin rpy="0.00000 0.0000 0.00000" xyz="0.00000 0.00000 0.00000"/>
			<geometry>
				<sphere radius="0.00000"/>
			</geometry>
			<material name="mat_50_0">
				<color rgba="0.71879 0.53909 0.35939 1.00000" />
			</material>
		</visual>
		<collision>
			<origin rpy="0.00000 0.0000 0.00000" xyz="0.00000 0.00000 0.00000"/>
			<geometry>
				<sphere radius="0.00000"/>
			</geometry>
		</collision>
	</link>
	<link name="neck_rz">
		<inertial>
			<origin rpy="0.00000 0.0000 0.00000" xyz="0.00000 0.00000 0.00000"/>
			<mass value="0.00000"/>
			<inertia ixx="0.00000" ixy="0" ixz="0" iyy="0.00000" iyz="0" izz="0.00000"/>
		</inertial>
		<visual>
			<origin rpy="0.00000 0.0000 0.00000" xyz="0.00000 0.00000 0.00000"/>
			<geometry>
				<sphere radius="0.00000"/>
			</geometry>
			<material name="mat_51_0">
				<color rgba="0.71879 0.53909 0.35939 1.00000" />
			</material>
		</visual>
		<collision>
			<origin rpy="0.00000 0.0000 0.00000" xyz="0.00000 0.00000 0.00000"/>
			<geometry>
				<sphere radius="0.00000"/>
			</geometry>
		</collision>
	</link>
	<link name="neck_limb">
		<inertial>
			<origin rpy="0.00000 0.0000 0.00000" xyz="0.00000 0.00000 0.00000"/>
			<mass value="2.00000"/>
			<inertia ixx="0.00260" ixy="0" ixz="0" iyy="0.00362" iyz="0" izz="0.00230"/>
		</inertial>
		<visual>
			<origin rpy="0.00000 0.0000 0.00000" xyz="0.00000 0.00000 0.00000"/>
			<geometry>
				<mesh filename="./meshes/Neck.obj" scale="1.00000 1.00000 1.00000"/>
			</geometry>
			<material name="mat_52_0">
				<color rgba="0.71879 0.53909 0.35939 1.00000" />
			</material>
		</visual>
		<collision>
			<origin rpy="0.00000 0.0000 0.00000" xyz="0.00000 0.00000 0.00000"/>
			<geometry>
				<mesh filename="./meshes/Neck.obj" scale="1.00000 1.00000 1.00000"/>
			</geometry>
		</collision>
	</link>
	<link name="head_rx">
		<inertial>
			<origin rpy="0.00000 0.0000 0.00000" xyz="0.00000 0.00000 0.00000"/>
			<mass value="0.00000"/>
			<inertia ixx="0.00000" ixy="0" ixz="0" iyy="0.00000" iyz="0" izz="0.00000"/>
		</inertial>
		<visual>
			<origin rpy="0.00000 0.0000 0.00000" xyz="0.00000 0.00000 0.00000"/>
			<geometry>
				<sphere radius="0.00000"/>
			</geometry>
			<material name="mat_53_0">
				<color rgba="0.71879 0.53909 0.35939 1.00000" />
			</material>
		</visual>
		<collision>
			<origin rpy="0.00000 0.0000 0.00000" xyz="0.00000 0.00000 0.00000"/>
			<geometry>
				<sphere radius="0.00000"/>
			</geometry>
		</collision>
	</link>
	<link name="head_ry">
		<inertial>
			<origin rpy="0.00000 0.0000 0.00000" xyz="0.00000 0.00000 0.00000"/>
			<mass value="0.00000"/>
			<inertia ixx="0.00000" ixy="0" ixz="0" iyy="0.00000" iyz="0" izz="0.00000"/>
		</inertial>
		<visual>
			<origin rpy="0.00000 0.0000 0.00000" xyz="0.00000 0.00000 0.00000"/>
			<geometry>
				<sphere radius="0.00000"/>
			</geometry>
			<material name="mat_54_0">
				<color rgba="0.71879 0.53909 0.35939 1.00000" />
			</material>
		</visual>
		<collision>
			<origin rpy="0.00000 0.0000 0.00000" xyz="0.00000 0.00000 0.00000"/>
			<geometry>
				<sphere radius="0.00000"/>
			</geometry>
		</collision>
	</link>
	<link name="head_rz">
		<inertial>
			<origin rpy="0.00000 0.0000 0.00000" xyz="0.00000 0.00000 0.00000"/>
			<mass value="0.00000"/>
			<inertia ixx="0.00000" ixy="0" ixz="0" iyy="0.00000" iyz="0" izz="0.00000"/>
		</inertial>
		<visual>
			<origin rpy="0.00000 0.0000 0.00000" xyz="0.00000 0.00000 0.00000"/>
			<geometry>
				<sphere radius="0.00000"/>
			</geometry>
			<material name="mat_55_0">
				<color rgba="0.71879 0.53909 0.35939 1.00000" />
			</material>
		</visual>
		<collision>
			<origin rpy="0.00000 0.0000 0.00000" xyz="0.00000 0.00000 0.00000"/>
			<geometry>
				<sphere radius="0.00000"/>
			</geometry>
		</collision>
	</link>
	<link name="head_limb">
		<inertial>
			<origin rpy="0.00000 0.0000 0.00000" xyz="0.00000 0.00000 0.00000"/>
			<mass value="2.00000"/>
			<inertia ixx="0.00985" ixy="0" ixz="0" iyy="0.00811" iyz="0" izz="0.00814"/>
		</inertial>
		<visual>
			<origin rpy="0.00000 0.0000 0.00000" xyz="0.00000 0.00000 0.00000"/>
			<geometry>
				<mesh filename="./meshes/Head.obj" scale="1.00000 1.00000 1.00000"/>
			</geometry>
			<material name="mat_56_0">
				<color rgba="0.71879 0.53909 0.35939 1.00000" />
			</material>
		</visual>
		<collision>
			<origin rpy="0.00000 0.0000 0.00000" xyz="0.00000 0.00000 0.00000"/>
			<geometry>
				<mesh filename="./meshes/Head.obj" scale="1.00000 1.00000 1.00000"/>
			</geometry>
		</collision>
	</link>
	<link name="left_clavicle_rx">
		<inertial>
			<origin rpy="0.00000 0.0000 0.00000" xyz="0.00000 0.00000 0.00000"/>
			<mass value="0.00000"/>
			<inertia ixx="0.00000" ixy="0" ixz="0" iyy="0.00000" iyz="0" izz="0.00000"/>
		</inertial>
		<visual>
			<origin rpy="0.00000 0.0000 0.00000" xyz="0.00000 0.00000 0.00000"/>
			<geometry>
				<sphere radius="0.00000"/>
			</geometry>
			<material name="mat_57_0">
				<color rgba="0.71879 0.53909 0.35939 1.00000" />
			</material>
		</visual>
		<collision>
			<origin rpy="0.00000 0.0000 0.00000" xyz="0.00000 0.00000 0.00000"/>
			<geometry>
				<sphere radius="0.00000"/>
			</geometry>
		</collision>
	</link>
	<link name="left_clavicle_ry">
		<inertial>
			<origin rpy="0.00000 0.0000 0.00000" xyz="0.00000 0.00000 0.00000"/>
			<mass value="0.00000"/>
			<inertia ixx="0.00000" ixy="0" ixz="0" iyy="0.00000" iyz="0" izz="0.00000"/>
		</inertial>
		<visual>
			<origin rpy="0.00000 0.0000 0.00000" xyz="0.00000 0.00000 0.00000"/>
			<geometry>
				<sphere radius="0.00000"/>
			</geometry>
			<material name="mat_58_0">
				<color rgba="0.71879 0.53909 0.35939 1.00000" />
			</material>
		</visual>
		<collision>
			<origin rpy="0.00000 0.0000 0.00000" xyz="0.00000 0.00000 0.00000"/>
			<geometry>
				<sphere radius="0.00000"/>
			</geometry>
		</collision>
	</link>
	<link name="left_clavicle_rz">
		<inertial>
			<origin rpy="0.00000 0.0000 0.00000" xyz="0.00000 0.00000 0.00000"/>
			<mass value="0.00000"/>
			<inertia ixx="0.00000" ixy="0" ixz="0" iyy="0.00000" iyz="0" izz="0.00000"/>
		</inertial>
		<visual>
			<origin rpy="0.00000 0.0000 0.00000" xyz="0.00000 0.00000 0.00000"/>
			<geometry>
				<sphere radius="0.00000"/>
			</geometry>
			<material name="mat_59_0">
				<color rgba="0.71879 0.53909 0.35939 1.00000" />
			</material>
		</visual>
		<collision>
			<origin rpy="0.00000 0.0000 0.00000" xyz="0.00000 0.00000 0.00000"/>
			<geometry>
				<sphere radius="0.00000"/>
			</geometry>
		</collision>
	</link>
	<link name="left_clavicle_limb">
		<inertial>
			<origin rpy="0.00000 0.0000 0.00000" xyz="0.00000 0.00000 0.00000"/>
			<mass value="2.00000"/>
			<inertia ixx="0.00000" ixy="0" ixz="0" iyy="0.00000" iyz="0" izz="0.00000"/>
		</inertial>
		<visual>
			<origin rpy="0.00000 0.0000 0.00000" xyz="0.00000 0.00000 0.00000"/>
			<geometry>
				<mesh filename="./meshes/L_Collar.obj" scale="1.00000 1.00000 1.00000"/>
			</geometry>
			<material name="mat_60_0">
				<color rgba="0.71879 0.53909 0.35939 1.00000" />
			</material>
		</visual>
		<collision>
			<origin rpy="0.00000 0.0000 0.00000" xyz="0.00000 0.00000 0.00000"/>
			<geometry>
				<mesh filename="./meshes/L_Collar.obj" scale="1.00000 1.00000 1.00000"/>
			</geometry>
		</collision>
	</link>
	<link name="left_shoulder_rx">
		<inertial>
			<origin rpy="0.00000 0.0000 0.00000" xyz="0.00000 0.00000 0.00000"/>
			<mass value="0.00000"/>
			<inertia ixx="0.00000" ixy="0" ixz="0" iyy="0.00000" iyz="0" izz="0.00000"/>
		</inertial>
		<visual>
			<origin rpy="0.00000 0.0000 0.00000" xyz="0.00000 0.00000 0.00000"/>
			<geometry>
				<sphere radius="0.00000"/>
			</geometry>
			<material name="mat_61_0">
				<color rgba="0.71879 0.53909 0.35939 1.00000" />
			</material>
		</visual>
		<collision>
			<origin rpy="0.00000 0.0000 0.00000" xyz="0.00000 0.00000 0.00000"/>
			<geometry>
				<sphere radius="0.00000"/>
			</geometry>
		</collision>
	</link>
	<link name="left_shoulder_ry">
		<inertial>
			<origin rpy="0.00000 0.0000 0.00000" xyz="0.00000 0.00000 0.00000"/>
			<mass value="0.00000"/>
			<inertia ixx="0.00000" ixy="0" ixz="0" iyy="0.00000" iyz="0" izz="0.00000"/>
		</inertial>
		<visual>
			<origin rpy="0.00000 0.0000 0.00000" xyz="0.00000 0.00000 0.00000"/>
			<geometry>
				<sphere radius="0.00000"/>
			</geometry>
			<material name="mat_62_0">
				<color rgba="0.71879 0.53909 0.35939 1.00000" />
			</material>
		</visual>
		<collision>
			<origin rpy="0.00000 0.0000 0.00000" xyz="0.00000 0.00000 0.00000"/>
			<geometry>
				<sphere radius="0.00000"/>
			</geometry>
		</collision>
	</link>
	<link name="left_shoulder_rz">
		<inertial>
			<origin rpy="0.00000 0.0000 0.00000" xyz="0.00000 0.00000 0.00000"/>
			<mass value="0.00000"/>
			<inertia ixx="0.00000" ixy="0" ixz="0" iyy="0.00000" iyz="0" izz="0.00000"/>
		</inertial>
		<visual>
			<origin rpy="0.00000 0.0000 0.00000" xyz="0.00000 0.00000 0.00000"/>
			<geometry>
				<sphere radius="0.00000"/>
			</geometry>
			<material name="mat_63_0">
				<color rgba="0.71879 0.53909 0.35939 1.00000" />
			</material>
		</visual>
		<collision>
			<origin rpy="0.00000 0.0000 0.00000" xyz="0.00000 0.00000 0.00000"/>
			<geometry>
				<sphere radius="0.00000"/>
			</geometry>
		</collision>
	</link>
	<link name="left_shoulder_limb">
		<inertial>
			<origin rpy="0.00000 0.0000 0.00000" xyz="0.00000 0.00000 0.00000"/>
			<mass value="2.00000"/>
			<inertia ixx="0.00327" ixy="0" ixz="0" iyy="0.00641" iyz="0" izz="0.00683"/>
		</inertial>
		<visual>
			<origin rpy="0.00000 0.0000 0.00000" xyz="0.00000 0.00000 0.00000"/>
			<geometry>
				<mesh filename="./meshes/L_Shoulder.obj" scale="1.00000 1.00000 1.00000"/>
			</geometry>
			<material name="mat_64_0">
				<color rgba="0.71879 0.53909 0.35939 1.00000" />
			</material>
		</visual>
		<collision>
			<origin rpy="0.00000 0.0000 0.00000" xyz="0.00000 0.00000 0.00000"/>
			<geometry>
				<mesh filename="./meshes/L_Shoulder.obj" scale="1.00000 1.00000 1.00000"/>
			</geometry>
		</collision>
	</link>
	<link name="left_elbow_rx">
		<inertial>
			<origin rpy="0.00000 0.0000 0.00000" xyz="0.00000 0.00000 0.00000"/>
			<mass value="0.00000"/>
			<inertia ixx="0.00000" ixy="0" ixz="0" iyy="0.00000" iyz="0" izz="0.00000"/>
		</inertial>
		<visual>
			<origin rpy="0.00000 0.0000 0.00000" xyz="0.00000 0.00000 0.00000"/>
			<geometry>
				<sphere radius="0.00000"/>
			</geometry>
			<material name="mat_65_0">
				<color rgba="0.71879 0.53909 0.35939 1.00000" />
			</material>
		</visual>
		<collision>
			<origin rpy="0.00000 0.0000 0.00000" xyz="0.00000 0.00000 0.00000"/>
			<geometry>
				<sphere radius="0.00000"/>
			</geometry>
		</collision>
	</link>
	<link name="left_elbow_ry">
		<inertial>
			<origin rpy="0.00000 0.0000 0.00000" xyz="0.00000 0.00000 0.00000"/>
			<mass value="0.00000"/>
			<inertia ixx="0.00000" ixy="0" ixz="0" iyy="0.00000" iyz="0" izz="0.00000"/>
		</inertial>
		<visual>
			<origin rpy="0.00000 0.0000 0.00000" xyz="0.00000 0.00000 0.00000"/>
			<geometry>
				<sphere radius="0.00000"/>
			</geometry>
			<material name="mat_66_0">
				<color rgba="0.71879 0.53909 0.35939 1.00000" />
			</material>
		</visual>
		<collision>
			<origin rpy="0.00000 0.0000 0.00000" xyz="0.00000 0.00000 0.00000"/>
			<geometry>
				<sphere radius="0.00000"/>
			</geometry>
		</collision>
	</link>
	<link name="left_elbow_rz">
		<inertial>
			<origin rpy="0.00000 0.0000 0.00000" xyz="0.00000 0.00000 0.00000"/>
			<mass value="0.00000"/>
			<inertia ixx="0.00000" ixy="0" ixz="0" iyy="0.00000" iyz="0" izz="0.00000"/>
		</inertial>
		<visual>
			<origin rpy="0.00000 0.0000 0.00000" xyz="0.00000 0.00000 0.00000"/>
			<geometry>
				<sphere radius="0.00000"/>
			</geometry>
			<material name="mat_67_0">
				<color rgba="0.71879 0.53909 0.35939 1.00000" />
			</material>
		</visual>
		<collision>
			<origin rpy="0.00000 0.0000 0.00000" xyz="0.00000 0.00000 0.00000"/>
			<geometry>
				<sphere radius="0.00000"/>
			</geometry>
		</collision>
	</link>
	<link name="left_elbow_limb">
		<inertial>
			<origin rpy="0.00000 0.0000 0.00000" xyz="0.00000 0.00000 0.00000"/>
			<mass value="2.00000"/>
			<inertia ixx="0.00164" ixy="0" ixz="0" iyy="0.00733" iyz="0" izz="0.00755"/>
		</inertial>
		<visual>
			<origin rpy="0.00000 0.0000 0.00000" xyz="0.00000 0.00000 0.00000"/>
			<geometry>
				<mesh filename="./meshes/L_Elbow.obj" scale="1.00000 1.00000 1.00000"/>
			</geometry>
			<material name="mat_68_0">
				<color rgba="0.71879 0.53909 0.35939 1.00000" />
			</material>
		</visual>
		<collision>
			<origin rpy="0.00000 0.0000 0.00000" xyz="0.00000 0.00000 0.00000"/>
			<geometry>
				<mesh filename="./meshes/L_Elbow.obj" scale="1.00000 1.00000 1.00000"/>
			</geometry>
		</collision>
	</link>
	<link name="left_lowarm_rx">
		<inertial>
			<origin rpy="0.00000 0.0000 0.00000" xyz="0.00000 0.00000 0.00000"/>
			<mass value="0.00000"/>
			<inertia ixx="0.00000" ixy="0" ixz="0" iyy="0.00000" iyz="0" izz="0.00000"/>
		</inertial>
		<visual>
			<origin rpy="0.00000 0.0000 0.00000" xyz="0.00000 0.00000 0.00000"/>
			<geometry>
				<sphere radius="0.00000"/>
			</geometry>
			<material name="mat_69_0">
				<color rgba="0.71879 0.53909 0.35939 1.00000" />
			</material>
		</visual>
		<collision>
			<origin rpy="0.00000 0.0000 0.00000" xyz="0.00000 0.00000 0.00000"/>
			<geometry>
				<sphere radius="0.00000"/>
			</geometry>
		</collision>
	</link>
	<link name="left_lowarm_ry">
		<inertial>
			<origin rpy="0.00000 0.0000 0.00000" xyz="0.00000 0.00000 0.00000"/>
			<mass value="0.00000"/>
			<inertia ixx="0.00000" ixy="0" ixz="0" iyy="0.00000" iyz="0" izz="0.00000"/>
		</inertial>
		<visual>
			<origin rpy="0.00000 0.0000 0.00000" xyz="0.00000 0.00000 0.00000"/>
			<geometry>
				<sphere radius="0.00000"/>
			</geometry>
			<material name="mat_70_0">
				<color rgba="0.71879 0.53909 0.35939 1.00000" />
			</material>
		</visual>
		<collision>
			<origin rpy="0.00000 0.0000 0.00000" xyz="0.00000 0.00000 0.00000"/>
			<geometry>
				<sphere radius="0.00000"/>
			</geometry>
		</collision>
	</link>
	<link name="left_lowarm_rz">
		<inertial>
			<origin rpy="0.00000 0.0000 0.00000" xyz="0.00000 0.00000 0.00000"/>
			<mass value="0.00000"/>
			<inertia ixx="0.00000" ixy="0" ixz="0" iyy="0.00000" iyz="0" izz="0.00000"/>
		</inertial>
		<visual>
			<origin rpy="0.00000 0.0000 0.00000" xyz="0.00000 0.00000 0.00000"/>
			<geometry>
				<sphere radius="0.00000"/>
			</geometry>
			<material name="mat_71_0">
				<color rgba="0.71879 0.53909 0.35939 1.00000" />
			</material>
		</visual>
		<collision>
			<origin rpy="0.00000 0.0000 0.00000" xyz="0.00000 0.00000 0.00000"/>
			<geometry>
				<sphere radius="0.00000"/>
			</geometry>
		</collision>
	</link>
	<link name="left_lowarm_limb">
		<inertial>
			<origin rpy="0.00000 0.0000 0.00000" xyz="0.00000 0.00000 0.00000"/>
			<mass value="2.00000"/>
			<inertia ixx="0.00227" ixy="0" ixz="0" iyy="0.00299" iyz="0" izz="0.00143"/>
		</inertial>
		<visual>
			<origin rpy="0.00000 0.0000 0.00000" xyz="0.00000 0.00000 0.00000"/>
			<geometry>
				<mesh filename="./meshes/L_Wrist.obj" scale="1.00000 1.00000 1.00000"/>
			</geometry>
			<material name="mat_72_0">
				<color rgba="0.71879 0.53909 0.35939 1.00000" />
			</material>
		</visual>
		<collision>
			<origin rpy="0.00000 0.0000 0.00000" xyz="0.00000 0.00000 0.00000"/>
			<geometry>
				<mesh filename="./meshes/L_Wrist.obj" scale="1.00000 1.00000 1.00000"/>
			</geometry>
		</collision>
	</link>
	<link name="left_hand_rx">
		<inertial>
			<origin rpy="0.00000 0.0000 0.00000" xyz="0.00000 0.00000 0.00000"/>
			<mass value="0.00000"/>
			<inertia ixx="0.00000" ixy="0" ixz="0" iyy="0.00000" iyz="0" izz="0.00000"/>
		</inertial>
		<visual>
			<origin rpy="0.00000 0.0000 0.00000" xyz="0.00000 0.00000 0.00000"/>
			<geometry>
				<sphere radius="0.00000"/>
			</geometry>
			<material name="mat_73_0">
				<color rgba="0.71879 0.53909 0.35939 1.00000" />
			</material>
		</visual>
		<collision>
			<origin rpy="0.00000 0.0000 0.00000" xyz="0.00000 0.00000 0.00000"/>
			<geometry>
				<sphere radius="0.00000"/>
			</geometry>
		</collision>
	</link>
	<link name="left_hand_ry">
		<inertial>
			<origin rpy="0.00000 0.0000 0.00000" xyz="0.00000 0.00000 0.00000"/>
			<mass value="0.00000"/>
			<inertia ixx="0.00000" ixy="0" ixz="0" iyy="0.00000" iyz="0" izz="0.00000"/>
		</inertial>
		<visual>
			<origin rpy="0.00000 0.0000 0.00000" xyz="0.00000 0.00000 0.00000"/>
			<geometry>
				<sphere radius="0.00000"/>
			</geometry>
			<material name="mat_74_0">
				<color rgba="0.71879 0.53909 0.35939 1.00000" />
			</material>
		</visual>
		<collision>
			<origin rpy="0.00000 0.0000 0.00000" xyz="0.00000 0.00000 0.00000"/>
			<geometry>
				<sphere radius="0.00000"/>
			</geometry>
		</collision>
	</link>
	<link name="left_hand_rz">
		<inertial>
			<origin rpy="0.00000 0.0000 0.00000" xyz="0.00000 0.00000 0.00000"/>
			<mass value="0.00000"/>
			<inertia ixx="0.00000" ixy="0" ixz="0" iyy="0.00000" iyz="0" izz="0.00000"/>
		</inertial>
		<visual>
			<origin rpy="0.00000 0.0000 0.00000" xyz="0.00000 0.00000 0.00000"/>
			<geometry>
				<sphere radius="0.00000"/>
			</geometry>
			<material name="mat_75_0">
				<color rgba="0.71879 0.53909 0.35939 1.00000" />
			</material>
		</visual>
		<collision>
			<origin rpy="0.00000 0.0000 0.00000" xyz="0.00000 0.00000 0.00000"/>
			<geometry>
				<sphere radius="0.00000"/>
			</geometry>
		</collision>
	</link>
	<link name="left_hand_limb">
		<inertial>
			<origin rpy="0.00000 0.0000 0.00000" xyz="0.00000 0.00000 0.00000"/>
			<mass value="2.00000"/>
			<inertia ixx="0.00066" ixy="0" ixz="0" iyy="0.00128" iyz="0" izz="0.00075"/>
		</inertial>
		<visual>
			<origin rpy="0.00000 0.0000 0.00000" xyz="0.00000 0.00000 0.00000"/>
			<geometry>
				<mesh filename="./meshes/L_Hand.obj" scale="1.00000 1.00000 1.00000"/>
			</geometry>
			<material name="mat_76_0">
				<color rgba="0.71879 0.53909 0.35939 1.00000" />
			</material>
		</visual>
		<collision>
			<origin rpy="0.00000 0.0000 0.00000" xyz="0.00000 0.00000 0.00000"/>
			<geometry>
				<mesh filename="./meshes/L_Hand.obj" scale="1.00000 1.00000 1.00000"/>
			</geometry>
		</collision>
	</link>
	<link name="right_clavicle_rx">
		<inertial>
			<origin rpy="0.00000 0.0000 0.00000" xyz="0.00000 0.00000 0.00000"/>
			<mass value="0.00000"/>
			<inertia ixx="0.00000" ixy="0" ixz="0" iyy="0.00000" iyz="0" izz="0.00000"/>
		</inertial>
		<visual>
			<origin rpy="0.00000 0.0000 0.00000" xyz="0.00000 0.00000 0.00000"/>
			<geometry>
				<sphere radius="0.00000"/>
			</geometry>
			<material name="mat_77_0">
				<color rgba="0.71879 0.53909 0.35939 1.00000" />
			</material>
		</visual>
		<collision>
			<origin rpy="0.00000 0.0000 0.00000" xyz="0.00000 0.00000 0.00000"/>
			<geometry>
				<sphere radius="0.00000"/>
			</geometry>
		</collision>
	</link>
	<link name="right_clavicle_ry">
		<inertial>
			<origin rpy="0.00000 0.0000 0.00000" xyz="0.00000 0.00000 0.00000"/>
			<mass value="0.00000"/>
			<inertia ixx="0.00000" ixy="0" ixz="0" iyy="0.00000" iyz="0" izz="0.00000"/>
		</inertial>
		<visual>
			<origin rpy="0.00000 0.0000 0.00000" xyz="0.00000 0.00000 0.00000"/>
			<geometry>
				<sphere radius="0.00000"/>
			</geometry>
			<material name="mat_78_0">
				<color rgba="0.71879 0.53909 0.35939 1.00000" />
			</material>
		</visual>
		<collision>
			<origin rpy="0.00000 0.0000 0.00000" xyz="0.00000 0.00000 0.00000"/>
			<geometry>
				<sphere radius="0.00000"/>
			</geometry>
		</collision>
	</link>
	<link name="right_clavicle_rz">
		<inertial>
			<origin rpy="0.00000 0.0000 0.00000" xyz="0.00000 0.00000 0.00000"/>
			<mass value="0.00000"/>
			<inertia ixx="0.00000" ixy="0" ixz="0" iyy="0.00000" iyz="0" izz="0.00000"/>
		</inertial>
		<visual>
			<origin rpy="0.00000 0.0000 0.00000" xyz="0.00000 0.00000 0.00000"/>
			<geometry>
				<sphere radius="0.00000"/>
			</geometry>
			<material name="mat_79_0">
				<color rgba="0.71879 0.53909 0.35939 1.00000" />
			</material>
		</visual>
		<collision>
			<origin rpy="0.00000 0.0000 0.00000" xyz="0.00000 0.00000 0.00000"/>
			<geometry>
				<sphere radius="0.00000"/>
			</geometry>
		</collision>
	</link>
	<link name="right_clavicle_limb">
		<inertial>
			<origin rpy="0.00000 0.0000 0.00000" xyz="0.00000 0.00000 0.00000"/>
			<mass value="2.00000"/>
			<inertia ixx="0.00000" ixy="0" ixz="0" iyy="0.00000" iyz="0" izz="0.00000"/>
		</inertial>
		<visual>
			<origin rpy="0.00000 0.0000 0.00000" xyz="0.00000 0.00000 0.00000"/>
			<geometry>
				<mesh filename="./meshes/R_Collar.obj" scale="1.00000 1.00000 1.00000"/>
			</geometry>
			<material name="mat_80_0">
				<color rgba="0.71879 0.53909 0.35939 1.00000" />
			</material>
		</visual>
		<collision>
			<origin rpy="0.00000 0.0000 0.00000" xyz="0.00000 0.00000 0.00000"/>
			<geometry>
				<mesh filename="./meshes/R_Collar.obj" scale="1.00000 1.00000 1.00000"/>
			</geometry>
		</collision>
	</link>
	<link name="right_shoulder_rx">
		<inertial>
			<origin rpy="0.00000 0.0000 0.00000" xyz="0.00000 0.00000 0.00000"/>
			<mass value="0.00000"/>
			<inertia ixx="0.00000" ixy="0" ixz="0" iyy="0.00000" iyz="0" izz="0.00000"/>
		</inertial>
		<visual>
			<origin rpy="0.00000 0.0000 0.00000" xyz="0.00000 0.00000 0.00000"/>
			<geometry>
				<sphere radius="0.00000"/>
			</geometry>
			<material name="mat_81_0">
				<color rgba="0.71879 0.53909 0.35939 1.00000" />
			</material>
		</visual>
		<collision>
			<origin rpy="0.00000 0.0000 0.00000" xyz="0.00000 0.00000 0.00000"/>
			<geometry>
				<sphere radius="0.00000"/>
			</geometry>
		</collision>
	</link>
	<link name="right_shoulder_ry">
		<inertial>
			<origin rpy="0.00000 0.0000 0.00000" xyz="0.00000 0.00000 0.00000"/>
			<mass value="0.00000"/>
			<inertia ixx="0.00000" ixy="0" ixz="0" iyy="0.00000" iyz="0" izz="0.00000"/>
		</inertial>
		<visual>
			<origin rpy="0.00000 0.0000 0.00000" xyz="0.00000 0.00000 0.00000"/>
			<geometry>
				<sphere radius="0.00000"/>
			</geometry>
			<material name="mat_82_0">
				<color rgba="0.71879 0.53909 0.35939 1.00000" />
			</material>
		</visual>
		<collision>
			<origin rpy="0.00000 0.0000 0.00000" xyz="0.00000 0.00000 0.00000"/>
			<geometry>
				<sphere radius="0.00000"/>
			</geometry>
		</collision>
	</link>
	<link name="right_shoulder_rz">
		<inertial>
			<origin rpy="0.00000 0.0000 0.00000" xyz="0.00000 0.00000 0.00000"/>
			<mass value="0.00000"/>
			<inertia ixx="0.00000" ixy="0" ixz="0" iyy="0.00000" iyz="0" izz="0.00000"/>
		</inertial>
		<visual>
			<origin rpy="0.00000 0.0000 0.00000" xyz="0.00000 0.00000 0.00000"/>
			<geometry>
				<sphere radius="0.00000"/>
			</geometry>
			<material name="mat_83_0">
				<color rgba="0.71879 0.53909 0.35939 1.00000" />
			</material>
		</visual>
		<collision>
			<origin rpy="0.00000 0.0000 0.00000" xyz="0.00000 0.00000 0.00000"/>
			<geometry>
				<sphere radius="0.00000"/>
			</geometry>
		</collision>
	</link>
	<link name="right_shoulder_limb">
		<inertial>
			<origin rpy="0.00000 0.0000 0.00000" xyz="0.00000 0.00000 0.00000"/>
			<mass value="2.00000"/>
			<inertia ixx="0.00355" ixy="0" ixz="0" iyy="0.00652" iyz="0" izz="0.00686"/>
		</inertial>
		<visual>
			<origin rpy="0.00000 0.0000 0.00000" xyz="0.00000 0.00000 0.00000"/>
			<geometry>
				<mesh filename="./meshes/R_Shoulder.obj" scale="1.00000 1.00000 1.00000"/>
			</geometry>
			<material name="mat_84_0">
				<color rgba="0.71879 0.53909 0.35939 1.00000" />
			</material>
		</visual>
		<collision>
			<origin rpy="0.00000 0.0000 0.00000" xyz="0.00000 0.00000 0.00000"/>
			<geometry>
				<mesh filename="./meshes/R_Shoulder.obj" scale="1.00000 1.00000 1.00000"/>
			</geometry>
		</collision>
	</link>
	<link name="right_elbow_rx">
		<inertial>
			<origin rpy="0.00000 0.0000 0.00000" xyz="0.00000 0.00000 0.00000"/>
			<mass value="0.00000"/>
			<inertia ixx="0.00000" ixy="0" ixz="0" iyy="0.00000" iyz="0" izz="0.00000"/>
		</inertial>
		<visual>
			<origin rpy="0.00000 0.0000 0.00000" xyz="0.00000 0.00000 0.00000"/>
			<geometry>
				<sphere radius="0.00000"/>
			</geometry>
			<material name="mat_85_0">
				<color rgba="0.71879 0.53909 0.35939 1.00000" />
			</material>
		</visual>
		<collision>
			<origin rpy="0.00000 0.0000 0.00000" xyz="0.00000 0.00000 0.00000"/>
			<geometry>
				<sphere radius="0.00000"/>
			</geometry>
		</collision>
	</link>
	<link name="right_elbow_ry">
		<inertial>
			<origin rpy="0.00000 0.0000 0.00000" xyz="0.00000 0.00000 0.00000"/>
			<mass value="0.00000"/>
			<inertia ixx="0.00000" ixy="0" ixz="0" iyy="0.00000" iyz="0" izz="0.00000"/>
		</inertial>
		<visual>
			<origin rpy="0.00000 0.0000 0.00000" xyz="0.00000 0.00000 0.00000"/>
			<geometry>
				<sphere radius="0.00000"/>
			</geometry>
			<material name="mat_86_0">
				<color rgba="0.71879 0.53909 0.35939 1.00000" />
			</material>
		</visual>
		<collision>
			<origin rpy="0.00000 0.0000 0.00000" xyz="0.00000 0.00000 0.00000"/>
			<geometry>
				<sphere radius="0.00000"/>
			</geometry>
		</collision>
	</link>
	<link name="right_elbow_rz">
		<inertial>
			<origin rpy="0.00000 0.0000 0.00000" xyz="0.00000 0.00000 0.00000"/>
			<mass value="0.00000"/>
			<inertia ixx="0.00000" ixy="0" ixz="0" iyy="0.00000" iyz="0" izz="0.00000"/>
		</inertial>
		<visual>
			<origin rpy="0.00000 0.0000 0.00000" xyz="0.00000 0.00000 0.00000"/>
			<geometry>
				<sphere radius="0.00000"/>
			</geometry>
			<material name="mat_87_0">
				<color rgba="0.71879 0.53909 0.35939 1.00000" />
			</material>
		</visual>
		<collision>
			<origin rpy="0.00000 0.0000 0.00000" xyz="0.00000 0.00000 0.00000"/>
			<geometry>
				<sphere radius="0.00000"/>
			</geometry>
		</collision>
	</link>
	<link name="right_elbow_limb">
		<inertial>
			<origin rpy="0.00000 0.0000 0.00000" xyz="0.00000 0.00000 0.00000"/>
			<mass value="2.00000"/>
			<inertia ixx="0.00170" ixy="0" ixz="0" iyy="0.00717" iyz="0" izz="0.00735"/>
		</inertial>
		<visual>
			<origin rpy="0.00000 0.0000 0.00000" xyz="0.00000 0.00000 0.00000"/>
			<geometry>
				<mesh filename="./meshes/R_Elbow.obj" scale="1.00000 1.00000 1.00000"/>
			</geometry>
			<material name="mat_88_0">
				<color rgba="0.71879 0.53909 0.35939 1.00000" />
			</material>
		</visual>
		<collision>
			<origin rpy="0.00000 0.0000 0.00000" xyz="0.00000 0.00000 0.00000"/>
			<geometry>
				<mesh filename="./meshes/R_Elbow.obj" scale="1.00000 1.00000 1.00000"/>
			</geometry>
		</collision>
	</link>
	<link name="right_lowarm_rx">
		<inertial>
			<origin rpy="0.00000 0.0000 0.00000" xyz="0.00000 0.00000 0.00000"/>
			<mass value="0.00000"/>
			<inertia ixx="0.00000" ixy="0" ixz="0" iyy="0.00000" iyz="0" izz="0.00000"/>
		</inertial>
		<visual>
			<origin rpy="0.00000 0.0000 0.00000" xyz="0.00000 0.00000 0.00000"/>
			<geometry>
				<sphere radius="0.00000"/>
			</geometry>
			<material name="mat_89_0">
				<color rgba="0.71879 0.53909 0.35939 1.00000" />
			</material>
		</visual>
		<collision>
			<origin rpy="0.00000 0.0000 0.00000" xyz="0.00000 0.00000 0.00000"/>
			<geometry>
				<sphere radius="0.00000"/>
			</geometry>
		</collision>
	</link>
	<link name="right_lowarm_ry">
		<inertial>
			<origin rpy="0.00000 0.0000 0.00000" xyz="0.00000 0.00000 0.00000"/>
			<mass value="0.00000"/>
			<inertia ixx="0.00000" ixy="0" ixz="0" iyy="0.00000" iyz="0" izz="0.00000"/>
		</inertial>
		<visual>
			<origin rpy="0.00000 0.0000 0.00000" xyz="0.00000 0.00000 0.00000"/>
			<geometry>
				<sphere radius="0.00000"/>
			</geometry>
			<material name="mat_90_0">
				<color rgba="0.71879 0.53909 0.35939 1.00000" />
			</material>
		</visual>
		<collision>
			<origin rpy="0.00000 0.0000 0.00000" xyz="0.00000 0.00000 0.00000"/>
			<geometry>
				<sphere radius="0.00000"/>
			</geometry>
		</collision>
	</link>
	<link name="right_lowarm_rz">
		<inertial>
			<origin rpy="0.00000 0.0000 0.00000" xyz="0.00000 0.00000 0.00000"/>
			<mass value="0.00000"/>
			<inertia ixx="0.00000" ixy="0" ixz="0" iyy="0.00000" iyz="0" izz="0.00000"/>
		</inertial>
		<visual>
			<origin rpy="0.00000 0.0000 0.00000" xyz="0.00000 0.00000 0.00000"/>
			<geometry>
				<sphere radius="0.00000"/>
			</geometry>
			<material name="mat_91_0">
				<color rgba="0.71879 0.53909 0.35939 1.00000" />
			</material>
		</visual>
		<collision>
			<origin rpy="0.00000 0.0000 0.00000" xyz="0.00000 0.00000 0.00000"/>
			<geometry>
				<sphere radius="0.00000"/>
			</geometry>
		</collision>
	</link>
	<link name="right_lowarm_limb">
		<inertial>
			<origin rpy="0.00000 0.0000 0.00000" xyz="0.00000 0.00000 0.00000"/>
			<mass value="2.00000"/>
			<inertia ixx="0.00236" ixy="0" ixz="0" iyy="0.00304" iyz="0" izz="0.00140"/>
		</inertial>
		<visual>
			<origin rpy="0.00000 0.0000 0.00000" xyz="0.00000 0.00000 0.00000"/>
			<geometry>
				<mesh filename="./meshes/R_Wrist.obj" scale="1.00000 1.00000 1.00000"/>
			</geometry>
			<material name="mat_92_0">
				<color rgba="0.71879 0.53909 0.35939 1.00000" />
			</material>
		</visual>
		<collision>
			<origin rpy="0.00000 0.0000 0.00000" xyz="0.00000 0.00000 0.00000"/>
			<geometry>
				<mesh filename="./meshes/R_Wrist.obj" scale="1.00000 1.00000 1.00000"/>
			</geometry>
		</collision>
	</link>
	<link name="right_hand_rx">
		<inertial>
			<origin rpy="0.00000 0.0000 0.00000" xyz="0.00000 0.00000 0.00000"/>
			<mass value="0.00000"/>
			<inertia ixx="0.00000" ixy="0" ixz="0" iyy="0.00000" iyz="0" izz="0.00000"/>
		</inertial>
		<visual>
			<origin rpy="0.00000 0.0000 0.00000" xyz="0.00000 0.00000 0.00000"/>
			<geometry>
				<sphere radius="0.00000"/>
			</geometry>
			<material name="mat_93_0">
				<color rgba="0.71879 0.53909 0.35939 1.00000" />
			</material>
		</visual>
		<collision>
			<origin rpy="0.00000 0.0000 0.00000" xyz="0.00000 0.00000 0.00000"/>
			<geometry>
				<sphere radius="0.00000"/>
			</geometry>
		</collision>
	</link>
	<link name="right_hand_ry">
		<inertial>
			<origin rpy="0.00000 0.0000 0.00000" xyz="0.00000 0.00000 0.00000"/>
			<mass value="0.00000"/>
			<inertia ixx="0.00000" ixy="0" ixz="0" iyy="0.00000" iyz="0" izz="0.00000"/>
		</inertial>
		<visual>
			<origin rpy="0.00000 0.0000 0.00000" xyz="0.00000 0.00000 0.00000"/>
			<geometry>
				<sphere radius="0.00000"/>
			</geometry>
			<material name="mat_94_0">
				<color rgba="0.71879 0.53909 0.35939 1.00000" />
			</material>
		</visual>
		<collision>
			<origin rpy="0.00000 0.0000 0.00000" xyz="0.00000 0.00000 0.00000"/>
			<geometry>
				<sphere radius="0.00000"/>
			</geometry>
		</collision>
	</link>
	<link name="right_hand_rz">
		<inertial>
			<origin rpy="0.00000 0.0000 0.00000" xyz="0.00000 0.00000 0.00000"/>
			<mass value="0.00000"/>
			<inertia ixx="0.00000" ixy="0" ixz="0" iyy="0.00000" iyz="0" izz="0.00000"/>
		</inertial>
		<visual>
			<origin rpy="0.00000 0.0000 0.00000" xyz="0.00000 0.00000 0.00000"/>
			<geometry>
				<sphere radius="0.00000"/>
			</geometry>
			<material name="mat_95_0">
				<color rgba="0.71879 0.53909 0.35939 1.00000" />
			</material>
		</visual>
		<collision>
			<origin rpy="0.00000 0.0000 0.00000" xyz="0.00000 0.00000 0.00000"/>
			<geometry>
				<sphere radius="0.00000"/>
			</geometry>
		</collision>
	</link>
	<link name="right_hand_limb">
		<inertial>
			<origin rpy="0.00000 0.0000 0.00000" xyz="0.00000 0.00000 0.00000"/>
			<mass value="2.00000"/>
			<inertia ixx="0.00068" ixy="0" ixz="0" iyy="0.00127" iyz="0" izz="0.00072"/>
		</inertial>
		<visual>
			<origin rpy="0.00000 0.0000 0.00000" xyz="0.00000 0.00000 0.00000"/>
			<geometry>
				<mesh filename="./meshes/R_Hand.obj" scale="1.00000 1.00000 1.00000"/>
			</geometry>
			<material name="mat_96_0">
				<color rgba="0.71879 0.53909 0.35939 1.00000" />
			</material>
		</visual>
		<collision>
			<origin rpy="0.00000 0.0000 0.00000" xyz="0.00000 0.00000 0.00000"/>
			<geometry>
				<mesh filename="./meshes/R_Hand.obj" scale="1.00000 1.00000 1.00000"/>
			</geometry>
		</collision>
	</link>
	<joint name="pelvis" type="fixed">
		<parent link="base"/>
		<child link="pelvis_limb"/>
		<dynamics damping="1.0" friction="0.0001"/>
		<origin rpy="0.00000 0.0000 0.00000" xyz="0.00000 0.00000 0.00000"/>
		<axis xyz="0.00000 0.00000 0.00000"/>
	</joint>
	<joint name="left_hip_rx" type="revolute">
		<parent link="pelvis_limb"/>
		<child link="left_hip_rx"/>
		<limit effort="1000.00000" lower="-3.14" upper="3.14" velocity="0.00000"/>
		<dynamics damping="1.0" friction="0.0001"/>
		<origin rpy="0.00000 0.0000 0.00000" xyz="0.05858 -0.08228 -0.01766"/>
		<axis xyz="1.00000 0.00000 0.00000"/>
	</joint>
	<joint name="left_hip_ry" type="revolute">
		<parent link="left_hip_rx"/>
		<child link="left_hip_ry"/>
		<limit effort="1000.00000" lower="-3.14" upper="3.14" velocity="0.00000"/>
		<dynamics damping="1.0" friction="0.0001"/>
		<origin rpy="0.00000 0.0000 0.00000" xyz="0.00000 0.00000 0.00000"/>
		<axis xyz="0.00000 1.00000 0.00000"/>
	</joint>
	<joint name="left_hip_rz" type="revolute">
		<parent link="left_hip_ry"/>
		<child link="left_hip_rz"/>
		<limit effort="1000.00000" lower="-3.14" upper="3.14" velocity="0.00000"/>
		<dynamics damping="1.0" friction="0.0001"/>
		<origin rpy="0.00000 0.0000 0.00000" xyz="0.00000 0.00000 0.00000"/>
		<axis xyz="0.00000 0.00000 1.00000"/>
	</joint>
	<joint name="left_hip_rzdammy" type="fixed">
		<parent link="left_hip_rz"/>
		<child link="left_hip_limb"/>
		<origin rpy="0.00000 0.0000 0.00000" xyz="0.00000 0.00000 0.00000"/>
	</joint>
	<joint name="left_knee_rx" type="revolute">
		<parent link="left_hip_limb"/>
		<child link="left_knee_rx"/>
		<limit effort="1000.00000" lower="-3.14" upper="3.14" velocity="0.00000"/>
		<dynamics damping="1.0" friction="0.0001"/>
		<origin rpy="0.00000 0.0000 0.00000" xyz="0.04345 -0.38647 0.00804"/>
		<axis xyz="1.00000 0.00000 0.00000"/>
	</joint>
	<joint name="left_knee_ry" type="revolute">
		<parent link="left_knee_rx"/>
		<child link="left_knee_ry"/>
		<limit effort="1000.00000" lower="-3.14" upper="3.14" velocity="0.00000"/>
		<dynamics damping="1.0" friction="0.0001"/>
		<origin rpy="0.00000 0.0000 0.00000" xyz="0.00000 0.00000 0.00000"/>
		<axis xyz="0.00000 1.00000 0.00000"/>
	</joint>
	<joint name="left_knee_rz" type="revolute">
		<parent link="left_knee_ry"/>
		<child link="left_knee_rz"/>
		<limit effort="1000.00000" lower="-3.14" upper="3.14" velocity="0.00000"/>
		<dynamics damping="1.0" friction="0.0001"/>
		<origin rpy="0.00000 0.0000 0.00000" xyz="0.00000 0.00000 0.00000"/>
		<axis xyz="0.00000 0.00000 1.00000"/>
	</joint>
	<joint name="left_knee_rzdammy" type="fixed">
		<parent link="left_knee_rz"/>
		<child link="left_knee_limb"/>
		<dynamics damping="1.0" friction="0.0001"/>
		<origin rpy="0.00000 0.0000 0.00000" xyz="0.00000 0.00000 0.00000"/>
		<axis xyz="0.00000 0.00000 0.00000"/>
	</joint>
	<joint name="left_ankle_rx" type="revolute">
		<parent link="left_knee_limb"/>
		<child link="left_ankle_rx"/>
		<limit effort="1000.00000" lower="-3.14" upper="3.14" velocity="0.00000"/>
		<dynamics damping="1.0" friction="0.0001"/>
		<origin rpy="0.00000 0.0000 0.00000" xyz="-0.01479 -0.42687 -0.03743"/>
		<axis xyz="1.00000 0.00000 0.00000"/>
	</joint>
	<joint name="left_ankle_ry" type="revolute">
		<parent link="left_ankle_rx"/>
		<child link="left_ankle_ry"/>
		<limit effort="1000.00000" lower="-3.14" upper="3.14" velocity="0.00000"/>
		<dynamics damping="1.0" friction="0.0001"/>
		<origin rpy="0.00000 0.0000 0.00000" xyz="0.00000 0.00000 0.00000"/>
		<axis xyz="0.00000 1.00000 0.00000"/>
	</joint>
	<joint name="left_ankle_rz" type="revolute">
		<parent link="left_ankle_ry"/>
		<child link="left_ankle_rz"/>
		<limit effort="1000.00000" lower="-3.14" upper="3.14" velocity="0.00000"/>
		<dynamics damping="1.0" friction="0.0001"/>
		<origin rpy="0.00000 0.0000 0.00000" xyz="0.00000 0.00000 0.00000"/>
		<axis xyz="0.00000 0.00000 1.00000"/>
	</joint>
	<joint name="left_ankle_rzdammy" type="fixed">
		<parent link="left_ankle_rz"/>
		<child link="left_ankle_limb"/>
		<origin rpy="0.00000 0.0000 0.00000" xyz="0.00000 0.00000 0.00000"/>
	</joint>
	<joint name="left_foot_rx" type="revolute">
		<parent link="left_ankle_limb"/>
		<child link="left_foot_rx"/>
		<limit effort="1000.00000" lower="-3.14" upper="3.14" velocity="0.00000"/>
		<dynamics damping="1.0" friction="0.0001"/>
		<origin rpy="0.00000 0.0000 0.00000" xyz="0.04105 -0.06029 0.12204"/>
		<axis xyz="1.00000 0.00000 0.00000"/>
	</joint>
	<joint name="left_foot_ry" type="revolute">
		<parent link="left_foot_rx"/>
		<child link="left_foot_ry"/>
		<limit effort="1000.00000" lower="-3.14" upper="3.14" velocity="0.00000"/>
		<dynamics damping="1.0" friction="0.0001"/>
		<origin rpy="0.00000 0.0000 0.00000" xyz="0.00000 0.00000 0.00000"/>
		<axis xyz="0.00000 1.00000 0.00000"/>
	</joint>
	<joint name="left_foot_rz" type="revolute">
		<parent link="left_foot_ry"/>
		<child link="left_foot_rz"/>
		<limit effort="0.00000" lower="-3.14" upper="3.14" velocity="0.00000"/>
		<dynamics damping="1.0" friction="0.0001"/>
		<origin rpy="0.00000 0.0000 0.00000" xyz="0.00000 0.00000 0.00000"/>
		<axis xyz="0.00000 0.00000 1.00000"/>
	</joint>
	<joint name="left_foot_rzdammy" type="fixed">
		<parent link="left_foot_rz"/>
		<child link="left_foot_limb"/>
		<origin rpy="0.00000 0.0000 0.00000" xyz="0.00000 0.00000 0.00000"/>
	</joint>
	<joint name="right_hip_rx" type="revolute">
		<parent link="pelvis_limb"/>
		<child link="right_hip_rx"/>
		<limit effort="1000.00000" lower="-3.14" upper="3.14" velocity="0.00000"/>
		<dynamics damping="1.0" friction="0.0001"/>
		<origin rpy="0.00000 0.0000 0.00000" xyz="-0.06031 -0.09051 -0.01354"/>
		<axis xyz="1.00000 0.00000 0.00000"/>
	</joint>
	<joint name="right_hip_ry" type="revolute">
		<parent link="right_hip_rx"/>
		<child link="right_hip_ry"/>
		<limit effort="1000.00000" lower="-3.14" upper="3.14" velocity="0.00000"/>
		<dynamics damping="1.0" friction="0.0001"/>
		<origin rpy="0.00000 0.0000 0.00000" xyz="0.00000 0.00000 0.00000"/>
		<axis xyz="0.00000 1.00000 0.00000"/>
	</joint>
	<joint name="right_hip_rz" type="revolute">
		<parent link="right_hip_ry"/>
		<child link="right_hip_rz"/>
		<limit effort="1000.00000" lower="-3.14" upper="3.14" velocity="0.00000"/>
		<dynamics damping="1.0" friction="0.0001"/>
		<origin rpy="0.00000 0.0000 0.00000" xyz="0.00000 0.00000 0.00000"/>
		<axis xyz="0.00000 0.00000 1.00000"/>
	</joint>
	<joint name="right_hip_rzdammy" type="fixed">
		<parent link="right_hip_rz"/>
		<child link="right_hip_limb"/>
		<origin rpy="0.00000 0.0000 0.00000" xyz="0.00000 0.00000 0.00000"/>
	</joint>
	<joint name="right_knee_rx" type="revolute">
		<parent link="right_hip_limb"/>
		<child link="right_knee_rx"/>
		<limit effort="1000.00000" lower="-3.14" upper="3.14" velocity="0.00000"/>
		<dynamics damping="1.0" friction="0.0001"/>
		<origin rpy="0.00000 0.0000 0.00000" xyz="-0.04326 -0.38369 -0.00484"/>
		<axis xyz="1.00000 0.00000 0.00000"/>
	</joint>
	<joint name="right_knee_ry" type="revolute">
		<parent link="right_knee_rx"/>
		<child link="right_knee_ry"/>
		<limit effort="1000.00000" lower="-3.14" upper="3.14" velocity="0.00000"/>
		<dynamics damping="1.0" friction="0.0001"/>
		<origin rpy="0.00000 0.0000 0.00000" xyz="0.00000 0.00000 0.00000"/>
		<axis xyz="0.00000 1.00000 0.00000"/>
	</joint>
	<joint name="right_knee_rz" type="revolute">
		<parent link="right_knee_ry"/>
		<child link="right_knee_rz"/>
		<limit effort="1000.00000" lower="-3.14" upper="3.14" velocity="0.00000"/>
		<dynamics damping="1.0" friction="0.0001"/>
		<origin rpy="0.00000 0.0000 0.00000" xyz="0.00000 0.00000 0.00000"/>
		<axis xyz="0.00000 0.00000 1.00000"/>
	</joint>
	<joint name="right_knee_rzdammy" type="fixed">
		<parent link="right_knee_rz"/>
		<child link="right_knee_limb"/>
		<origin rpy="0.00000 0.0000 0.00000" xyz="0.00000 0.00000 0.00000"/>
	</joint>
	<joint name="right_ankle_rx" type="revolute">
		<parent link="right_knee_limb"/>
		<child link="right_ankle_rx"/>
		<limit effort="1000.00000" lower="-3.14" upper="3.14" velocity="0.00000"/>
		<dynamics damping="1.0" friction="0.0001"/>
		<origin rpy="0.00000 0.0000 0.00000" xyz="0.01906 -0.42005 -0.03456"/>
		<axis xyz="1.00000 0.00000 0.00000"/>
	</joint>
	<joint name="right_ankle_ry" type="revolute">
		<parent link="right_ankle_rx"/>
		<child link="right_ankle_ry"/>
		<limit effort="1000.00000" lower="-3.14" upper="3.14" velocity="0.00000"/>
		<dynamics damping="1.0" friction="0.0001"/>
		<origin rpy="0.00000 0.0000 0.00000" xyz="0.00000 0.00000 0.00000"/>
		<axis xyz="0.00000 1.00000 0.00000"/>
	</joint>
	<joint name="right_ankle_rz" type="revolute">
		<parent link="right_ankle_ry"/>
		<child link="right_ankle_rz"/>
		<limit effort="1000.00000" lower="-3.14" upper="3.14" velocity="0.00000"/>
		<dynamics damping="1.0" friction="0.0001"/>
		<origin rpy="0.00000 0.0000 0.00000" xyz="0.00000 0.00000 0.00000"/>
		<axis xyz="0.00000 0.00000 1.00000"/>
	</joint>
	<joint name="right_ankle_rzdammy" type="fixed">
		<parent link="right_ankle_rz"/>
		<child link="right_ankle_limb"/>
		<origin rpy="0.00000 0.0000 0.00000" xyz="0.00000 0.00000 0.00000"/>
	</joint>
	<joint name="right_foot_rx" type="revolute">
		<parent link="right_ankle_limb"/>
		<child link="right_foot_rx"/>
		<limit effort="1000.00000" lower="-3.14" upper="3.14" velocity="0.00000"/>
		<dynamics damping="1.0" friction="0.0001"/>
		<origin rpy="0.00000 0.0000 0.00000" xyz="-0.03484 -0.06211 0.13032"/>
		<axis xyz="1.00000 0.00000 0.00000"/>
	</joint>
	<joint name="right_foot_ry" type="revolute">
		<parent link="right_foot_rx"/>
		<child link="right_foot_ry"/>
		<limit effort="1000.00000" lower="-3.14" upper="3.14" velocity="0.00000"/>
		<dynamics damping="1.0" friction="0.0001"/>
		<origin rpy="0.00000 0.0000 0.00000" xyz="0.00000 0.00000 0.00000"/>
		<axis xyz="0.00000 1.00000 0.00000"/>
	</joint>
	<joint name="right_foot_rz" type="revolute">
		<parent link="right_foot_ry"/>
		<child link="right_foot_rz"/>
		<limit effort="1000.00000" lower="-3.14" upper="3.14" velocity="0.00000"/>
		<dynamics damping="1.0" friction="0.0001"/>
		<origin rpy="0.00000 0.0000 0.00000" xyz="0.00000 0.00000 0.00000"/>
		<axis xyz="0.00000 0.00000 1.00000"/>
	</joint>
	<joint name="right_foot_rzdammy" type="fixed">
		<parent link="right_foot_rz"/>
		<child link="right_foot_limb"/>
		<origin rpy="0.00000 0.0000 0.00000" xyz="0.00000 0.00000 0.00000"/>
	</joint>
	<joint name="spine_2_rx" type="revolute">
		<parent link="pelvis_limb"/>
		<child link="spine_2_rx"/>
		<limit effort="1000.00000" lower="-3.14" upper="3.14" velocity="0.00000"/>
		<dynamics damping="1.0" friction="0.0001"/>
		<origin rpy="0.00000 0.0000 0.00000" xyz="0.00444 0.12440 -0.03839"/>
		<axis xyz="1.00000 0.00000 0.00000"/>
	</joint>
	<joint name="spine_2_ry" type="revolute">
		<parent link="spine_2_rx"/>
		<child link="spine_2_ry"/>
		<limit effort="1000.00000" lower="-3.14" upper="3.14" velocity="0.00000"/>
		<dynamics damping="1.0" friction="0.0001"/>
		<origin rpy="0.00000 0.0000 0.00000" xyz="0.00000 0.00000 0.00000"/>
		<axis xyz="0.00000 1.00000 0.00000"/>
	</joint>
	<joint name="spine_2_rz" type="revolute">
		<parent link="spine_2_ry"/>
		<child link="spine_2_rz"/>
		<limit effort="1000.00000" lower="-3.14" upper="3.14" velocity="0.00000"/>
		<dynamics damping="1.0" friction="0.0001"/>
		<origin rpy="0.00000 0.0000 0.00000" xyz="0.00000 0.00000 0.00000"/>
		<axis xyz="0.00000 0.00000 1.00000"/>
	</joint>
	<joint name="spine_2_rzdammy" type="fixed">
		<parent link="spine_2_rz"/>
		<child link="spine_2_limb"/>
		<origin rpy="0.00000 0.0000 0.00000" xyz="0.00000 0.00000 0.00000"/>
	</joint>
	<joint name="spine_3_rx" type="revolute">
		<parent link="spine_2_limb"/>
		<child link="spine_3_rx"/>
		<limit effort="1000.00000" lower="-3.14" upper="3.14" velocity="0.00000"/>
		<dynamics damping="1.0" friction="0.0001"/>
		<origin rpy="0.00000 0.0000 0.00000" xyz="0.00449 0.13796 0.02682"/>
		<axis xyz="1.00000 0.00000 0.00000"/>
	</joint>
	<joint name="spine_3_ry" type="revolute">
		<parent link="spine_3_rx"/>
		<child link="spine_3_ry"/>
		<limit effort="1000.00000" lower="-3.14" upper="3.14" velocity="0.00000"/>
		<dynamics damping="1.0" friction="0.0001"/>
		<origin rpy="0.00000 0.0000 0.00000" xyz="0.00000 0.00000 0.00000"/>
		<axis xyz="0.00000 1.00000 0.00000"/>
	</joint>
	<joint name="spine_3_rz" type="revolute">
		<parent link="spine_3_ry"/>
		<child link="spine_3_rz"/>
		<limit effort="1000.00000" lower="-3.14" upper="3.14" velocity="0.00000"/>
		<dynamics damping="1.0" friction="0.0001"/>
		<origin rpy="0.00000 0.0000 0.00000" xyz="0.00000 0.00000 0.00000"/>
		<axis xyz="0.00000 0.00000 1.00000"/>
	</joint>
	<joint name="spine_3_rzdammy" type="fixed">
		<parent link="spine_3_rz"/>
		<child link="spine_3_limb"/>
		<origin rpy="0.00000 0.0000 0.00000" xyz="0.00000 0.00000 0.00000"/>
	</joint>
	<joint name="spine_4_rx" type="revolute">
		<parent link="spine_3_limb"/>
		<child link="spine_4_rx"/>
		<limit effort="1000.00000" lower="-3.14" upper="3.14" velocity="0.00000"/>
		<dynamics damping="1.0" friction="0.0001"/>
		<origin rpy="0.00000 0.0000 0.00000" xyz="-0.00226 0.05603 0.00286"/>
		<axis xyz="1.00000 0.00000 0.00000"/>
	</joint>
	<joint name="spine_4_ry" type="revolute">
		<parent link="spine_4_rx"/>
		<child link="spine_4_ry"/>
		<limit effort="1000.00000" lower="-3.14" upper="3.14" velocity="0.00000"/>
		<dynamics damping="1.0" friction="0.0001"/>
		<origin rpy="0.00000 0.0000 0.00000" xyz="0.00000 0.00000 0.00000"/>
		<axis xyz="0.00000 1.00000 0.00000"/>
	</joint>
	<joint name="spine_4_rz" type="revolute">
		<parent link="spine_4_ry"/>
		<child link="spine_4_rz"/>
		<limit effort="1000.00000" lower="-3.14" upper="3.14" velocity="0.00000"/>
		<dynamics damping="1.0" friction="0.0001"/>
		<origin rpy="0.00000 0.0000 0.00000" xyz="0.00000 0.00000 0.00000"/>
		<axis xyz="0.00000 0.00000 1.00000"/>
	</joint>
	<joint name="spine_4_rzdammy" type="fixed">
		<parent link="spine_4_rz"/>
		<child link="spine_4_limb"/>
		<origin rpy="0.00000 0.0000 0.00000" xyz="0.00000 0.00000 0.00000"/>
	</joint>
	<joint name="neck_rx" type="revolute">
		<parent link="spine_4_limb"/>
		<child link="neck_rx"/>
		<limit effort="1000.00000" lower="-3.14" upper="3.14" velocity="0.00000"/>
		<dynamics damping="1.0" friction="0.0001"/>
		<origin rpy="0.00000 0.0000 0.00000" xyz="-0.01339 0.21164 -0.03347"/>
		<axis xyz="1.00000 0.00000 0.00000"/>
	</joint>
	<joint name="neck_ry" type="revolute">
		<parent link="neck_rx"/>
		<child link="neck_ry"/>
		<limit effort="1000.00000" lower="-3.14" upper="3.14" velocity="0.00000"/>
		<dynamics damping="1.0" friction="0.0001"/>
		<origin rpy="0.00000 0.0000 0.00000" xyz="0.00000 0.00000 0.00000"/>
		<axis xyz="0.00000 1.00000 0.00000"/>
	</joint>
	<joint name="neck_rz" type="revolute">
		<parent link="neck_ry"/>
		<child link="neck_rz"/>
		<limit effort="1000.00000" lower="-3.14" upper="3.14" velocity="0.00000"/>
		<dynamics damping="1.0" friction="0.0001"/>
		<origin rpy="0.00000 0.0000 0.00000" xyz="0.00000 0.00000 0.00000"/>
		<axis xyz="0.00000 0.00000 1.00000"/>
	</joint>
	<joint name="neck_rzdammy" type="fixed">
		<parent link="neck_rz"/>
		<child link="neck_limb"/>
		<origin rpy="0.00000 0.0000 0.00000" xyz="0.00000 0.00000 0.00000"/>
	</joint>
	<joint name="head_rx" type="revolute">
		<parent link="neck_limb"/>
		<child link="head_rx"/>
		<limit effort="1000.00000" lower="-3.14" upper="3.14" velocity="0.00000"/>
		<dynamics damping="1.0" friction="0.0001"/>
		<origin rpy="0.00000 0.0000 0.00000" xyz="0.01011 0.08894 0.05041"/>
		<axis xyz="1.00000 0.00000 0.00000"/>
	</joint>
	<joint name="head_ry" type="revolute">
		<parent link="head_rx"/>
		<child link="head_ry"/>
		<limit effort="1000.00000" lower="-3.14" upper="3.14" velocity="0.00000"/>
		<dynamics damping="1.0" friction="0.0001"/>
		<origin rpy="0.00000 0.0000 0.00000" xyz="0.00000 0.00000 0.00000"/>
		<axis xyz="0.00000 1.00000 0.00000"/>
	</joint>
	<joint name="head_rz" type="revolute">
		<parent link="head_ry"/>
		<child link="head_rz"/>
		<limit effort="1000.00000" lower="-3.14" upper="3.14" velocity="0.00000"/>
		<dynamics damping="1.0" friction="0.0001"/>
		<origin rpy="0.00000 0.0000 0.00000" xyz="0.00000 0.00000 0.00000"/>
		<axis xyz="0.00000 0.00000 1.00000"/>
	</joint>
	<joint name="head_rzdammy" type="fixed">
		<parent link="head_rz"/>
		<child link="head_limb"/>
		<origin rpy="0.00000 0.0000 0.00000" xyz="0.00000 0.00000 0.00000"/>
	</joint>
	<joint name="left_clavicle_rx" type="revolute">
		<parent link="spine_4_limb"/>
		<child link="left_clavicle_rx"/>
		<limit effort="1000.00000" lower="-3.14" upper="3.14" velocity="0.00000"/>
		<dynamics damping="1.0" friction="0.0001"/>
		<origin rpy="0.00000 0.0000 0.00000" xyz="0.07170 0.11400 -0.01890"/>
		<axis xyz="1.00000 0.00000 0.00000"/>
	</joint>
	<joint name="left_clavicle_ry" type="revolute">
		<parent link="left_clavicle_rx"/>
		<child link="left_clavicle_ry"/>
		<limit effort="1000.00000" lower="-3.14" upper="3.14" velocity="0.00000"/>
		<dynamics damping="1.0" friction="0.0001"/>
		<origin rpy="0.00000 0.0000 0.00000" xyz="0.00000 0.00000 0.00000"/>
		<axis xyz="0.00000 1.00000 0.00000"/>
	</joint>
	<joint name="left_clavicle_rz" type="revolute">
		<parent link="left_clavicle_ry"/>
		<child link="left_clavicle_rz"/>
		<limit effort="1000.00000" lower="-3.14" upper="3.14" velocity="0.00000"/>
		<dynamics damping="1.0" friction="0.0001"/>
		<origin rpy="0.00000 0.0000 0.00000" xyz="0.00000 0.00000 0.00000"/>
		<axis xyz="0.00000 0.00000 1.00000"/>
	</joint>
	<joint name="left_clavicle_rzdammy" type="fixed">
		<parent link="left_clavicle_rz"/>
		<child link="left_clavicle_limb"/>
		<origin rpy="0.00000 0.0000 0.00000" xyz="0.00000 0.00000 0.00000"/>
	</joint>
	<joint name="left_shoulder_rx" type="revolute">
		<parent link="left_clavicle_limb"/>
		<child link="left_shoulder_rx"/>
		<limit effort="1000.00000" lower="-3.14" upper="3.14" velocity="0.00000"/>
		<dynamics damping="1.0" friction="0.0001"/>
		<origin rpy="0.00000 0.0000 0.00000" xyz="0.12292 0.04521 -0.01905"/>
		<axis xyz="1.00000 0.00000 0.00000"/>
	</joint>
	<joint name="left_shoulder_ry" type="revolute">
		<parent link="left_shoulder_rx"/>
		<child link="left_shoulder_ry"/>
		<limit effort="1000.00000" lower="-3.14" upper="3.14" velocity="0.00000"/>
		<dynamics damping="1.0" friction="0.0001"/>
		<origin rpy="0.00000 0.0000 0.00000" xyz="0.00000 0.00000 0.00000"/>
		<axis xyz="0.00000 1.00000 0.00000"/>
	</joint>
	<joint name="left_shoulder_rz" type="revolute">
		<parent link="left_shoulder_ry"/>
		<child link="left_shoulder_rz"/>
		<limit effort="1000.00000" lower="-3.14" upper="3.14" velocity="0.00000"/>
		<dynamics damping="1.0" friction="0.0001"/>
		<origin rpy="0.00000 0.0000 0.00000" xyz="0.00000 0.00000 0.00000"/>
		<axis xyz="0.00000 0.00000 1.00000"/>
	</joint>
	<joint name="left_shoulder_rzdammy" type="fixed">
		<parent link="left_shoulder_rz"/>
		<child link="left_shoulder_limb"/>
		<origin rpy="0.00000 0.0000 0.00000" xyz="0.00000 0.00000 0.00000"/>
	</joint>
	<joint name="left_elbow_rx" type="revolute">
		<parent link="left_shoulder_limb"/>
		<child link="left_elbow_rx"/>
		<limit effort="1000.00000" lower="-3.14" upper="3.14" velocity="0.00000"/>
		<dynamics damping="1.0" friction="0.0001"/>
		<origin rpy="0.00000 0.0000 0.00000" xyz="0.25533 -0.01565 -0.02295"/>
		<axis xyz="1.00000 0.00000 0.00000"/>
	</joint>
	<joint name="left_elbow_ry" type="revolute">
		<parent link="left_elbow_rx"/>
		<child link="left_elbow_ry"/>
		<limit effort="1000.00000" lower="-3.14" upper="3.14" velocity="0.00000"/>
		<dynamics damping="1.0" friction="0.0001"/>
		<origin rpy="0.00000 0.0000 0.00000" xyz="0.00000 0.00000 0.00000"/>
		<axis xyz="0.00000 1.00000 0.00000"/>
	</joint>
	<joint name="left_elbow_rz" type="revolute">
		<parent link="left_elbow_ry"/>
		<child link="left_elbow_rz"/>
		<limit effort="1000.00000" lower="-3.14" upper="3.14" velocity="0.00000"/>
		<dynamics damping="1.0" friction="0.0001"/>
		<origin rpy="0.00000 0.0000 0.00000" xyz="0.00000 0.00000 0.00000"/>
		<axis xyz="0.00000 0.00000 1.00000"/>
	</joint>
	<joint name="left_elbow_rzdammy" type="fixed">
		<parent link="left_elbow_rz"/>
		<child link="left_elbow_limb"/>
		<origin rpy="0.00000 0.0000 0.00000" xyz="0.00000 0.00000 0.00000"/>
	</joint>
	<joint name="left_lowarm_rx" type="revolute">
		<parent link="left_elbow_limb"/>
		<child link="left_lowarm_rx"/>
		<limit effort="1000.00000" lower="-3.14" upper="3.14" velocity="0.00000"/>
		<dynamics damping="1.0" friction="0.0001"/>
		<origin rpy="0.00000 0.0000 0.00000" xyz="0.26571 0.01270 -0.00737"/>
		<axis xyz="1.00000 0.00000 0.00000"/>
	</joint>
	<joint name="left_lowarm_ry" type="revolute">
		<parent link="left_lowarm_rx"/>
		<child link="left_lowarm_ry"/>
		<limit effort="1000.00000" lower="-3.14" upper="3.14" velocity="0.00000"/>
		<dynamics damping="1.0" friction="0.0001"/>
		<origin rpy="0.00000 0.0000 0.00000" xyz="0.00000 0.00000 0.00000"/>
		<axis xyz="0.00000 1.00000 0.00000"/>
	</joint>
	<joint name="left_lowarm_rz" type="revolute">
		<parent link="left_lowarm_ry"/>
		<child link="left_lowarm_rz"/>
		<limit effort="1000.00000" lower="-3.14" upper="3.14" velocity="0.00000"/>
		<dynamics damping="1.0" friction="0.0001"/>
		<origin rpy="0.00000 0.0000 0.00000" xyz="0.00000 0.00000 0.00000"/>
		<axis xyz="0.00000 0.00000 1.00000"/>
	</joint>
	<joint name="left_lowarm_rzdammy" type="fixed">
		<parent link="left_lowarm_rz"/>
		<child link="left_lowarm_limb"/>
		<origin rpy="0.00000 0.0000 0.00000" xyz="0.00000 0.00000 0.00000"/>
	</joint>
	<joint name="left_hand_rx" type="revolute">
		<parent link="left_lowarm_limb"/>
		<child link="left_hand_rx"/>
		<limit effort="1000.00000" lower="-3.14" upper="3.14" velocity="0.00000"/>
		<dynamics damping="1.0" friction="0.0001"/>
		<origin rpy="0.00000 0.0000 0.00000" xyz="0.08669 -0.01064 -0.01559"/>
	    <axis xyz="1.00000 0.00000 0.00000"/>
	</joint>
	<joint name="left_hand_ry" type="revolute">
		<parent link="left_hand_rx"/>
		<child link="left_hand_ry"/>
		<limit effort="1000.00000" lower="-3.14" upper="3.14" velocity="0.00000"/>
		<dynamics damping="1.0" friction="0.0001"/>
		<origin rpy="0.00000 0.0000 0.00000" xyz="0.00000 0.00000 0.00000"/>
		<axis xyz="0.00000 1.00000 0.00000"/>
	</joint>
	<joint name="left_hand_rz" type="revolute">
		<parent link="left_hand_ry"/>
		<child link="left_hand_rz"/>
		<limit effort="1000.00000" lower="-3.14" upper="3.14" velocity="0.00000"/>
		<dynamics damping="1.0" friction="0.0001"/>
		<origin rpy="0.00000 0.0000 0.00000" xyz="0.00000 0.00000 0.00000"/>
		<axis xyz="0.00000 0.00000 1.00000"/>
	</joint>
	<joint name="left_hand_rzdammy" type="fixed">
		<parent link="left_hand_rz"/>
		<child link="left_hand_limb"/>
		<origin rpy="0.00000 0.0000 0.00000" xyz="0.00000 0.00000 0.00000"/>
	</joint>
	<joint name="right_clavicle_rx" type="revolute">
		<parent link="spine_4_limb"/>
		<child link="right_clavicle_rx"/>
		<limit effort="1000.00000" lower="-3.14" upper="3.14" velocity="0.00000"/>
		<dynamics damping="1.0" friction="0.0001"/>
		<origin rpy="0.00000 0.0000 0.00000" xyz="-0.08295 0.11247 -0.02371"/>
	    <axis xyz="1.00000 0.00000 0.00000"/>
	</joint>
	<joint name="right_clavicle_ry" type="revolute">
		<parent link="right_clavicle_rx"/>
		<child link="right_clavicle_ry"/>
		<limit effort="1000.00000" lower="-3.14" upper="3.14" velocity="0.00000"/>
		<dynamics damping="1.0" friction="0.0001"/>
		<origin rpy="0.00000 0.0000 0.00000" xyz="0.00000 0.00000 0.00000"/>
		<axis xyz="0.00000 1.00000 0.00000"/>
	</joint>
	<joint name="right_clavicle_rz" type="revolute">
		<parent link="right_clavicle_ry"/>
		<child link="right_clavicle_rz"/>
		<limit effort="1000.00000" lower="-3.14" upper="3.14" velocity="0.00000"/>
		<dynamics damping="1.0" friction="0.0001"/>
		<origin rpy="0.00000 0.0000 0.00000" xyz="0.00000 0.00000 0.00000"/>
		<axis xyz="0.00000 0.00000 1.00000"/>
	</joint>
	<joint name="right_clavicle_rzdammy" type="fixed">
		<parent link="right_clavicle_rz"/>
		<child link="right_clavicle_limb"/>
		<origin rpy="0.00000 0.0000 0.00000" xyz="0.00000 0.00000 0.00000"/>
	</joint>
	<joint name="right_shoulder_rx" type="revolute">
		<parent link="right_clavicle_limb"/>
		<child link="right_shoulder_rx"/>
		<limit effort="1000.00000" lower="-3.14" upper="3.14" velocity="0.00000"/>
		<dynamics damping="1.0" friction="0.0001"/>
		<origin rpy="0.00000 0.0000 0.00000" xyz="-0.11323 0.04685 -0.00847"/>
		<axis xyz="1.00000 0.00000 0.00000"/>
	</joint>
	<joint name="right_shoulder_ry" type="revolute">
		<parent link="right_shoulder_rx"/>
		<child link="right_shoulder_ry"/>
		<limit effort="1000.00000" lower="-3.14" upper="3.14" velocity="0.00000"/>
		<dynamics damping="1.0" friction="0.0001"/>
		<origin rpy="0.00000 0.0000 0.00000" xyz="0.00000 0.00000 0.00000"/>
		<axis xyz="0.00000 1.00000 0.00000"/>
	</joint>
	<joint name="right_shoulder_rz" type="revolute">
		<parent link="right_shoulder_ry"/>
		<child link="right_shoulder_rz"/>
		<limit effort="1000.00000" lower="-3.14" upper="3.14" velocity="0.00000"/>
		<dynamics damping="1.0" friction="0.0001"/>
		<origin rpy="0.00000 0.0000 0.00000" xyz="0.00000 0.00000 0.00000"/>
		<axis xyz="0.00000 0.00000 1.00000"/>
	</joint>
	<joint name="right_shoulder_rzdammy" type="fixed">
		<parent link="right_shoulder_rz"/>
		<child link="right_shoulder_limb"/>
		<origin rpy="0.00000 0.0000 0.00000" xyz="0.00000 0.00000 0.00000"/>
	</joint>
	<joint name="right_elbow_rx" type="revolute">
		<parent link="right_shoulder_limb"/>
		<child link="right_elbow_rx"/>
		<limit effort="1000.00000" lower="-3.14" upper="3.14" velocity="0.00000"/>
		<dynamics damping="1.0" friction="0.0001"/>
		<origin rpy="0.00000 0.0000 0.00000" xyz="-0.26013 -0.01437 -0.03127"/>
		<axis xyz="1.00000 0.00000 0.00000"/>
	</joint>
	<joint name="right_elbow_ry" type="revolute">
		<parent link="right_elbow_rx"/>
		<child link="right_elbow_ry"/>
		<limit effort="1000.00000" lower="-3.14" upper="3.14" velocity="0.00000"/>
		<dynamics damping="1.0" friction="0.0001"/>
		<origin rpy="0.00000 0.0000 0.00000" xyz="0.00000 0.00000 0.00000"/>
	    <axis xyz="0.00000 1.00000 0.00000"/>
	</joint>
	<joint name="right_elbow_rz" type="revolute">
		<parent link="right_elbow_ry"/>
		<child link="right_elbow_rz"/>
		<limit effort="1000.00000" lower="-3.14" upper="3.14" velocity="0.00000"/>
		<dynamics damping="1.0" friction="0.0001"/>
		<origin rpy="0.00000 0.0000 0.00000" xyz="0.00000 0.00000 0.00000"/>
		<axis xyz="0.00000 0.00000 1.00000"/>
	</joint>
	<joint name="right_elbow_rzdammy" type="fixed">
		<parent link="right_elbow_rz"/>
		<child link="right_elbow_limb"/>
		<origin rpy="0.00000 0.0000 0.00000" xyz="0.00000 0.00000 0.00000"/>
	</joint>
	<joint name="right_lowarm_rx" type="revolute">
		<parent link="right_elbow_limb"/>
		<child link="right_lowarm_rx"/>
		<limit effort="1000.00000" lower="-3.14" upper="3.14" velocity="0.00000"/>
		<dynamics damping="1.0" friction="0.0001"/>
		<origin rpy="0.00000 0.0000 0.00000" xyz="-0.26911 0.00679 -0.00603"/>
		<axis xyz="1.00000 0.00000 0.00000"/>
	</joint>
	<joint name="right_lowarm_ry" type="revolute">
		<parent link="right_lowarm_rx"/>
		<child link="right_lowarm_ry"/>
		<limit effort="1000.00000" lower="-3.14" upper="3.14" velocity="0.00000"/>
		<dynamics damping="1.0" friction="0.0001"/>
		<origin rpy="0.00000 0.0000 0.00000" xyz="0.00000 0.00000 0.00000"/>
		<axis xyz="0.00000 1.00000 0.00000"/>
	</joint>
	<joint name="right_lowarm_rz" type="revolute">
		<parent link="right_lowarm_ry"/>
		<child link="right_lowarm_rz"/>
		<limit effort="1000.00000" lower="-3.14" upper="3.14" velocity="0.00000"/>
		<dynamics damping="1.0" friction="0.0001"/>
		<origin rpy="0.00000 0.0000 0.00000" xyz="0.00000 0.00000 0.00000"/>
		<axis xyz="0.00000 0.00000 1.00000"/>
	</joint>
	<joint name="right_lowarm_rzdammy" type="fixed">
		<parent link="right_lowarm_rz"/>
		<child link="right_lowarm_limb"/>
		<origin rpy="0.00000 0.0000 0.00000" xyz="0.00000 0.00000 0.00000"/>
	</joint>
	<joint name="right_hand_rx" type="revolute">
		<parent link="right_lowarm_limb"/>
		<child link="right_hand_rx"/>
		<limit effort="1000.00000" lower="-3.14" upper="3.14" velocity="0.00000"/>
		<dynamics damping="1.0" friction="0.0001"/>
		<origin rpy="0.00000 0.0000 0.00000" xyz="-0.08875 -0.00865 -0.01011"/>
		<axis xyz="1.00000 0.00000 0.00000"/>
	</joint>
	<joint name="right_hand_ry" type="revolute">
		<parent link="right_hand_rx"/>
		<child link="right_hand_ry"/>
		<limit effort="1000.00000" lower="-3.14" upper="3.14" velocity="0.00000"/>
		<dynamics damping="1.0" friction="0.0001"/>
		<origin rpy="0.00000 0.0000 0.00000" xyz="0.00000 0.00000 0.00000"/>
		<axis xyz="0.00000 1.00000 0.00000"/>
	</joint>
	<joint name="right_hand_rz" type="revolute">
		<parent link="right_hand_ry"/>
		<child link="right_hand_rz"/>
		<limit effort="1000.00000" lower="-3.14" upper="3.14" velocity="0.00000"/>
		<dynamics damping="1.0" friction="0.0001"/>
		<origin rpy="0.00000 0.0000 0.00000" xyz="0.00000 0.00000 0.00000"/>
		<axis xyz="0.00000 0.00000 1.00000"/>
	</joint>
	<joint name="right_hand_rzdammy" type="fixed">
		<parent link="right_hand_rz"/>
		<child link="right_hand_limb"/>
		<origin rpy="0.00000 0.0000 0.00000" xyz="0.00000 0.00000 0.00000"/>
	</joint>
</robot>
